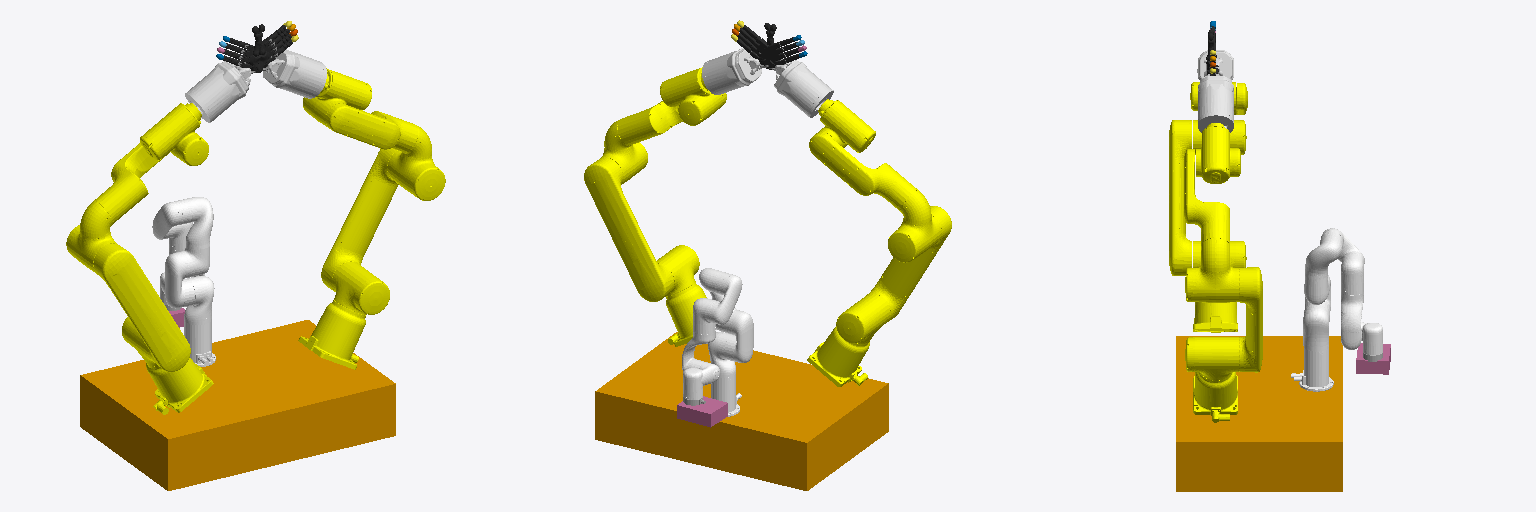
--- What the picture shows (computed from the rendered views, not written in the file) ---
The picture shows the robot from 3 angles, left to right: view 1: azimuth 30°, elevation 25°; view 2: azimuth 150°, elevation 25°; view 3: azimuth 270°, elevation 25°; orthographic projection.
Robot: avatar — 100 links, 99 joints (66 revolute, 33 fixed); root link world; default pose: all joints at 0.
Links seen in each view (by area): view 1: avatar_mount_shopstand, gofa1_link_2, gofa2_link_2, xarm6_link2, gofa2_link_4, gofa2_base, gofa1_link_5, gofa2_link_3, lh_forearm, gofa1_link_4, gofa2_link_1, gofa1_base (+7 smaller); view 2: avatar_mount_shopstand, gofa2_link_2, gofa1_link_4, gofa1_link_2, gofa1_link_3, gofa1_base, gofa2_link_5, lh_forearm, rh_forearm, gofa1_link_1, xarm6_link2, gofa2_link_4 (+10 smaller); view 3: avatar_mount_shopstand, gofa1_link_2, gofa2_link_3, gofa2_link_2, gofa2_link_1, gofa2_link_4, gofa2_link_5, xarm6_link2, gofa2_base, rh_forearm, gofa1_base, xarm6_link1 (+8 smaller).
Boxes of the visible links, <box> form: avatar_mount_shopstand: <box>80,320,395,490</box>; gofa1_link_2: <box>93,243,190,371</box>; gofa2_link_2: <box>321,148,398,291</box>; xarm6_link2: <box>165,197,213,308</box>; gofa2_link_4: <box>326,103,417,152</box>; gofa2_base: <box>298,300,365,369</box>; gofa1_link_5: <box>140,104,208,165</box>; gofa2_link_3: <box>387,125,445,200</box>; lh_forearm: <box>185,61,250,122</box>; gofa1_link_4: <box>94,143,169,222</box>; gofa2_link_1: <box>332,262,389,314</box>; gofa1_base: <box>146,358,213,414</box>; avatar_mount_shopstand: <box>595,332,888,490</box>; gofa2_link_2: <box>584,158,674,301</box>; gofa1_link_4: <box>809,132,917,210</box>; gofa1_link_2: <box>866,206,951,321</box>; gofa1_link_3: <box>888,190,941,262</box>; gofa1_base: <box>807,327,869,386</box>; gofa2_link_5: <box>660,68,722,125</box>; lh_forearm: <box>774,60,833,117</box>; rh_forearm: <box>702,48,761,94</box>; gofa1_link_1: <box>836,294,890,343</box>; xarm6_link2: <box>699,268,753,362</box>; gofa2_link_4: <box>617,93,726,144</box>; avatar_mount_shopstand: <box>1176,336,1342,491</box>; gofa1_link_2: <box>1169,120,1191,275</box>; gofa2_link_3: <box>1185,238,1238,302</box>; gofa2_link_2: <box>1239,267,1262,372</box>; gofa2_link_1: <box>1185,337,1238,380</box>; gofa2_link_4: <box>1184,149,1229,245</box>; gofa2_link_5: <box>1196,127,1240,183</box>; xarm6_link2: <box>1304,230,1343,308</box>; gofa2_base: <box>1193,372,1237,422</box>; rh_forearm: <box>1198,74,1233,132</box>; gofa1_base: <box>1193,302,1237,332</box>; xarm6_link1: <box>1303,301,1330,351</box>.
Bounding box of the posed robot: 1.41 × 0.8133 × 1.63 m (x, y, z).
67 mesh visuals loaded from 28 distinct referenced files (28 OBJ).

URDF robot description (avatar):
<?xml version="1.0" ?>
<!-- =================================================================================== -->
<!-- |    This document was autogenerated by xacro from [local-path]/avatar_ws_backup_2/install/avatar_moveit_config/share/avatar_moveit_config/config/avatar.urdf.xacro | -->
<!-- |    EDITING THIS FILE BY HAND IS NOT RECOMMENDED                                 | -->
<!-- =================================================================================== -->
<robot name="avatar" xmlns:controller="http://playerstage.sourceforge.net/gazebo/xmlschema/#controller" xmlns:interface="http://playerstage.sourceforge.net/gazebo/xmlschema/#interface" xmlns:sensor="http://playerstage.sourceforge.net/gazebo/xmlschema/#sensor">
  <!-- Avatar mounting shopstand, y forward, z up -->
  <link name="avatar_mount_shopstand">
    <visual>
      <origin rpy="0 0 0" xyz="0.4572 0.3048 -0.1"/>
      <geometry>
        <box size="0.9144 0.6096 0.2"/>
      </geometry>
    </visual>
    <collision>
      <origin rpy="0 0 0" xyz="0.4572 0.3048 -0.1"/>
      <geometry>
        <box size="0.9144 0.6096 0.2"/>
      </geometry>
    </collision>
  </link>
  <!-- World Connection -->
  <link name="world"/>
  <joint name="avatar_mount_shopstand" type="fixed">
    <parent link="world"/>
    <child link="avatar_mount_shopstand"/>
    <origin rpy="0.0 0.0 0.0" xyz="0.1 0.1 0.0"/>
  </joint>
  <!-- connect avatar mount shopstand to gofa 1 -->
  <joint name="gofa1_workspace" type="fixed">
    <parent link="avatar_mount_shopstand"/>
    <child link="gofa1_workspace"/>
    <origin rpy="0.0 0.0 0.0" xyz="0.1524 0.14605 0.0"/>
  </joint>
  <material name="Blue">
    <color rgba="0.0 0.0 0.8 1.0"/>
  </material>
  <material name="Green">
    <color rgba="0.0 0.8 0.0 1.0"/>
  </material>
  <material name="BiotacGreen">
    <color rgba="0.31 0.85 0.42 1.0"/>
  </material>
  <material name="Grey">
    <color rgba="0.2 0.2 0.2 1.0"/>
  </material>
  <material name="LightGrey">
    <color rgba="0.6 0.6 0.6 1.0"/>
  </material>
  <material name="Red">
    <color rgba="0.8 0.0 0.0 1.0"/>
  </material>
  <material name="White">
    <color rgba="1.0 1.0 1.0 1.0"/>
  </material>
  <gazebo>
    <plugin filename="libgazebo_ros_control.so" name="gazebo_ros_control">
      <robotSimType>sr_gazebo_sim/SrGazeboHWSim</robotSimType>
    </plugin>
  </gazebo>
  <!-- Conversion were obtained from http://www.e-paint.co.uk/Lab_values.asp
       unless otherwise stated. -->
  <!-- link list -->
  <link name="gofa1_base">
    <!-- See note 1 in package.xml about the inertial and mass values -->
    <inertial>
      <mass value="3.50083457958494"/>
      <origin xyz="-0.0012013793465437 -0.000175191786981708 0.0862146007385352"/>
      <inertia ixx="0.0153015257917955" ixy="-6.40155032892694E-05" ixz="-0.000276708687772683" iyy="0.0159333503953857" iyz="-3.98029144780725E-05" izz="0.0112162302268266"/>
    </inertial>
    <collision name="collision">
      <geometry>
        <mesh filename="gofa_arm/meshes/collision/base_from_STL.obj"/>
      </geometry>
    </collision>
    <visual name="visual">
      <geometry>
        <mesh filename="gofa_arm/meshes/visual/base_from_STL.obj"/>
      </geometry>
      <material name="">
        <color rgba="1 1 0 1"/>
      </material>
    </visual>
  </link>
  <link name="gofa1_link_1">
    <!-- See note 1 in package.xml about the inertial and mass values -->
    <inertial>
      <mass value="2.76743491139404"/>
      <origin xyz="2.08682453325091E-06 0.0103608399967513 0.0705307203199506"/>
      <inertia ixx="0.0115158625894577" ixy="6.37197693598838E-08" ixz="5.98954393680154E-09" iyy="0.006494848329231" iyz="-0.000196668400316843" izz="0.0109446835358581"/>
    </inertial>
    <collision name="collision">
      <geometry>
        <mesh filename="gofa_arm/meshes/collision/link_1_from_STL.obj"/>
      </geometry>
    </collision>
    <visual name="visual">
      <geometry>
        <mesh filename="gofa_arm/meshes/visual/link_1_from_STL.obj"/>
      </geometry>
      <material name="">
        <color rgba="1 1 0 1"/>
      </material>
    </visual>
  </link>
  <link name="gofa1_link_2">
    <!-- See note 1 in package.xml about the inertial and mass values -->
    <inertial>
      <mass value="4.2890416"/>
      <origin xyz="1.34018352211628E-06 -0.0500118376116071 0.222001399322246"/>
      <inertia ixx="0.130524729873898" ixy="1.31811857134115E-07" ixz="1.99022457670482E-06" iyy="0.133278449324229" iyz="-4.48622200366709E-07" izz="0.00669457974697178"/>
    </inertial>
    <collision name="collision">
      <geometry>
        <mesh filename="gofa_arm/meshes/collision/link_2_from_STL.obj"/>
      </geometry>
    </collision>
    <visual name="visual">
      <geometry>
        <mesh filename="gofa_arm/meshes/visual/link_2_from_STL.obj"/>
      </geometry>
      <material name="">
        <color rgba="1 1 0 1"/>
      </material>
    </visual>
  </link>
  <link name="gofa1_link_3">
    <!-- See note 1 in package.xml about the inertial and mass values -->
    <inertial>
      <mass value="3.38333107992875"/>
      <origin xyz="0.0128129281453599 0.0944171780907046 0.0247427540642403"/>
      <inertia ixx="0.0175626138728642" ixy="0.000364866179108744" ixz="-0.00318670290285352" iyy="0.0140230068919562" iyz="0.000704668055158407" izz="0.013275205067567"/>
    </inertial>
    <collision name="collision">
      <geometry>
        <mesh filename="gofa_arm/meshes/collision/link_3_from_STL.obj"/>
      </geometry>
    </collision>
    <visual name="visual">
      <geometry>
        <mesh filename="gofa_arm/meshes/visual/link_3_from_STL.obj"/>
      </geometry>
      <material name="">
        <color rgba="1 1 0 1"/>
      </material>
    </visual>
  </link>
  <link name="gofa1_link_4">
    <!-- See note 1 in package.xml about the inertial and mass values -->
    <inertial>
      <mass value="2.77857535641324"/>
      <origin xyz="0.160558561602322 0.041976811408979 -2.36623354021859E-07"/>
      <inertia ixx="0.00881683095901354" ixy="-0.010746260580237" ixz="1.2899930119841E-07" iyy="0.0340754175571832" iyz="3.96362791626429E-08" izz="0.0389358932156922"/>
    </inertial>
    <collision name="collision">
      <geometry>
        <mesh filename="gofa_arm/meshes/collision/link_4_from_STL.obj"/>
      </geometry>
    </collision>
    <visual name="visual">
      <geometry>
        <mesh filename="gofa_arm/meshes/visual/link_4_from_STL.obj"/>
      </geometry>
      <material name="">
        <color rgba="1 1 0 1"/>
      </material>
    </visual>
  </link>
  <link name="gofa1_link_5">
    <!-- See note 1 in package.xml about the inertial and mass values -->
    <inertial>
      <mass value="3.01105814739001"/>
      <origin xyz="-0.0147152361879962 -0.0785646469392633 0.0427558021601431"/>
      <inertia ixx="0.0114597336686444" ixy="0.000180094704361231" ixz="0.00165207280226761" iyy="0.013561904467501" iyz="-0.000525272443978826" izz="0.0108480119549914"/>
    </inertial>
    <collision name="collision">
      <geometry>
        <mesh filename="gofa_arm/meshes/collision/link_5_from_STL.obj"/>
      </geometry>
    </collision>
    <visual name="visual">
      <geometry>
        <mesh filename="gofa_arm/meshes/visual/link_5_from_STL.obj"/>
      </geometry>
      <material name="">
        <color rgba="1 1 0 1"/>
      </material>
    </visual>
  </link>
  <link name="gofa1_link_6">
    <!-- See note 1 in package.xml about the inertial and mass values -->
    <inertial>
      <mass value="0.146500988015653"/>
      <origin rpy="0 0 0" xyz="0.0137506852604966 0.000239804131398652 -0.000341962798940165"/>
      <inertia ixx="0.000128977630055306" ixy="-8.7622752508613E-08" ixz="1.18851551870012E-07" iyy="7.61118177829087E-05" iyz="-6.49821554399679E-07" izz="7.65022909768016E-05"/>
    </inertial>
    <!-- Meshlab calculated values (below) make gazebo crash when rotating this joint. -->
    <!-- <inertial>
        <mass value="0.00686711"/>
        <origin xyz="-0.00250976 -1.89e-06 0.00010218"/>
        <inertia ixx="1.3517e-06" ixy="-1.21316e-11" ixz="9.18065e-12" iyy="6.89813e-07" iyz="-1.21534e-10" izz="6.90097e-07"/>
      </inertial> -->
    <collision name="collision">
      <geometry>
        <mesh filename="gofa_arm/meshes/collision/link_6_from_STL.obj"/>
      </geometry>
    </collision>
    <visual name="visual">
      <geometry>
        <mesh filename="gofa_arm/meshes/visual/link_6_from_STL.obj"/>
      </geometry>
      <material name="">
        <color rgba="1 1 0 1"/>
      </material>
    </visual>
  </link>
  <!-- end of link list -->
  <!-- joint list -->
  <joint name="gofa1_joint_1" type="revolute">
    <origin rpy="0 0 0" xyz="0 0 0.1875"/>
    <axis xyz="0 0 1"/>
    <parent link="gofa1_base"/>
    <child link="gofa1_link_1"/>
    <!-- See note 2 in package.xml about effort limits and dynamics values -->
    <limit effort="1000" lower="-2.967" upper="2.967" velocity="5.027"/>
    <dynamics damping="50.0" friction="1.0"/>
  </joint>
  <joint name="gofa1_joint_2" type="revolute">
    <origin rpy="0 0 0" xyz="0 -0.085 0.0775"/>
    <axis xyz="0 1 0"/>
    <parent link="gofa1_link_1"/>
    <child link="gofa1_link_2"/>
    <!-- See note 2 in package.xml about effort limits and dynamics values -->
    <limit effort="1000" lower="-1.745" upper="2.269" velocity="4.189"/>
    <dynamics damping="50.0" friction="1.0"/>
  </joint>
  <joint name="gofa1_joint_3" type="revolute">
    <origin rpy="0 0 0" xyz="0 -0.00100000000000007 0.444"/>
    <axis xyz="0 1 0"/>
    <parent link="gofa1_link_2"/>
    <child link="gofa1_link_3"/>
    <!-- See note 2 in package.xml about effort limits and dynamics values -->
    <limit effort="1000" lower="-3.491" upper="1.222" velocity="5.236"/>
    <dynamics damping="10.0" friction="1.0"/>
  </joint>
  <joint name="gofa1_joint_4" type="revolute">
    <origin rpy="0 0 0" xyz="0.096 0.0860000000000001 0.11"/>
    <axis xyz="1 0 0"/>
    <parent link="gofa1_link_3"/>
    <child link="gofa1_link_4"/>
    <!-- See note 2 in package.xml about effort limits and dynamics values -->
    <limit effort="1000" lower="-4.712" upper="4.712" velocity="6.981"/>
    <dynamics damping="5.0" friction="1.0"/>
  </joint>
  <joint name="gofa1_joint_5" type="revolute">
    <origin rpy="0 0 0" xyz="0.374 0.0744999999999998 0"/>
    <axis xyz="0 1 0"/>
    <parent link="gofa1_link_4"/>
    <child link="gofa1_link_5"/>
    <!-- See note 2 in package.xml about effort limits and dynamics values -->
    <limit effort="1000" lower="-2.269" upper="2.269" velocity="7.069"/>
    <dynamics damping="2.0" friction="1.0"/>
  </joint>
  <joint name="gofa1_joint_6" type="revolute">
    <origin rpy="0 0 0" xyz="0.0679999999999995 -0.0744999999999998 0.0800000000000003"/>
    <axis xyz="1 0 0"/>
    <parent link="gofa1_link_5"/>
    <child link="gofa1_link_6"/>
    <!-- See note 2 in package.xml about effort limits and dynamics values -->
    <limit effort="1000" lower="-6.283" upper="6.283" velocity="10.472"/>
    <dynamics damping="1.0" friction="1.0"/>
  </joint>
  <!-- end of joint list -->
  <!-- gofa transmission list -->
  <!--added by LiWen on Apr 16 2025 -->
  <transmission name="gofa1_joint_1_transmission">
    <type>sr_mechanism_model/SimpleTransmission</type>
    <actuator name="gofa1_J1">
      <mechanicalReduction>1</mechanicalReduction>
    </actuator>
    <joint name="gofa1_joint_1">
      <hardwareInterface>EffortJointInterface</hardwareInterface>
      <hardwareInterface>PositionJointInterface</hardwareInterface>
    </joint>
  </transmission>
  <transmission name="gofa1_joint_2_transmission">
    <type>sr_mechanism_model/SimpleTransmission</type>
    <actuator name="gofa1_J2">
      <mechanicalReduction>1</mechanicalReduction>
    </actuator>
    <joint name="gofa1_joint_2">
      <hardwareInterface>EffortJointInterface</hardwareInterface>
      <hardwareInterface>PositionJointInterface</hardwareInterface>
    </joint>
  </transmission>
  <transmission name="gofa1_joint_3_transmission">
    <type>sr_mechanism_model/SimpleTransmission</type>
    <actuator name="gofa1_J3">
      <mechanicalReduction>1</mechanicalReduction>
    </actuator>
    <joint name="gofa1_joint_3">
      <hardwareInterface>EffortJointInterface</hardwareInterface>
      <hardwareInterface>PositionJointInterface</hardwareInterface>
    </joint>
  </transmission>
  <transmission name="gofa1_joint_4_transmission">
    <type>sr_mechanism_model/SimpleTransmission</type>
    <actuator name="gofa1_J4">
      <mechanicalReduction>1</mechanicalReduction>
    </actuator>
    <joint name="gofa1_joint_4">
      <hardwareInterface>EffortJointInterface</hardwareInterface>
      <hardwareInterface>PositionJointInterface</hardwareInterface>
    </joint>
  </transmission>
  <transmission name="gofa1_joint_5_transmission">
    <type>sr_mechanism_model/SimpleTransmission</type>
    <actuator name="gofa1_J5">
      <mechanicalReduction>1</mechanicalReduction>
    </actuator>
    <joint name="gofa1_joint_5">
      <hardwareInterface>EffortJointInterface</hardwareInterface>
      <hardwareInterface>PositionJointInterface</hardwareInterface>
    </joint>
  </transmission>
  <transmission name="gofa1_joint_6_transmission">
    <type>sr_mechanism_model/SimpleTransmission</type>
    <actuator name="gofa1_J6">
      <mechanicalReduction>1</mechanicalReduction>
    </actuator>
    <joint name="gofa1_joint_6">
      <hardwareInterface>EffortJointInterface</hardwareInterface>
      <hardwareInterface>PositionJointInterface</hardwareInterface>
    </joint>
  </transmission>
  <!-- end of gofa transmission list -->
  <!-- ROS-Industrial 'base' frame- base_link to ABB World Coordinates transform -->
  <link name="gofa1_base_link"/>
  <joint name="gofa1_base_link-base" type="fixed">
    <origin rpy="0 0 0" xyz="0 0 0"/>
    <parent link="gofa1_base_link"/>
    <child link="gofa1_base"/>
  </joint>
  <!-- ROS-Industrial 'tool0' frame- all-zeros tool frame -->
  <link name="gofa1_tool0"/>
  <joint name="gofa1_link_6-tool0" type="fixed">
    <origin rpy="0 1.5708 0" xyz="0.0326 0 0"/>
    <parent link="gofa1_link_6"/>
    <child link="gofa1_tool0"/>
  </joint>
  <joint name="lh_world_joint" type="fixed">
    <parent link="gofa1_tool0"/>
    <child link="lh_forearm"/>
    <origin rpy="0.0 0.0 0.0" xyz="0.0 0.0 0.007"/>
  </joint>
  <link name="lh_forearm">
    <inertial>
      <origin rpy="0 0 0" xyz="0 0 0.09"/>
      <mass value="3.0"/>
      <inertia ixx="0.0138" ixy="0.0" ixz="0.0" iyy="0.0138" iyz="0.0" izz="0.00744"/>
    </inertial>
    <visual>
      <origin rpy="0 0 0" xyz="0 0 0.0"/>
      <geometry name="lh_forearm_visual">
        <mesh filename="shadow_hand/meshes/forearm/forearm_E3M5_from_dae.obj" scale="0.001 0.001 0.001"/>
      </geometry>
      <material name="light_grey">
        <color rgba="0.90000 0.90000 0.90000 1.0"/>
      </material>
    </visual>
    <collision>
      <origin rpy="0 0 0" xyz="0 0 0.0"/>
      <geometry name="lh_forearm_collision">
        <mesh filename="shadow_hand/meshes/forearm/forearm_collision_E3M5_from_dae.obj" scale="0.001 0.001 0.001"/>
      </geometry>
    </collision>
    <!-- wrist mount -->
    <collision>
      <origin rpy="0 0.78 0" xyz="0 -0.01 0.181"/>
      <geometry>
        <box size="0.07 0.07 0.07"/>
      </geometry>
    </collision>
    <!-- TODO: Make a decision on whether to add the connector or not -->
    <!--visual>
        <origin rpy="0 -1.57 -1.57" xyz="0.0 0.067 0.0045"/>
        <geometry name="${prefix}cable_extr_visualisation">
          <mesh filename="file://$(find sr_description)/meshes/components/cable_connector/cable_connector_base_${hand_version}.dae" scale="0.001 0.001 0.001" />
        </geometry>
      </visual-->
  </link>
  <gazebo reference="lh_forearm">
    <selfCollide>false</selfCollide>
  </gazebo>
  <link name="lh_wrist">
    <inertial>
      <origin rpy="0 0 0" xyz="0 0 0.029"/>
      <mass value="0.1"/>
      <inertia ixx="0.000035" ixy="0.0" ixz="0.0" iyy="0.000064" iyz="0.0" izz="0.0000438"/>
    </inertial>
    <visual>
      <origin rpy="0 0 0" xyz="0 0 0"/>
      <geometry name="lh_wrist_visual">
        <mesh filename="shadow_hand/meshes/wrist/wrist_E3M5_from_dae_scaled_n0.001_0.001_0.001.obj" scale="1 1 1"/>
      </geometry>
      <material name="LightGrey"/>
    </visual>
    <collision>
      <origin rpy="1.5708 1.5708 0" xyz="0 0 0"/>
      <geometry name="lh_wrist_collision_geom">
        <cylinder length="0.030" radius="0.0135"/>
      </geometry>
    </collision>
    <collision>
      <origin rpy="0 1.5708 0" xyz="0.026 0 0.034"/>
      <geometry>
        <cylinder length="0.010" radius="0.011"/>
      </geometry>
    </collision>
    <collision>
      <origin rpy="0 1.5708 0" xyz="-0.031 0 0.034"/>
      <geometry>
        <cylinder length="0.010" radius="0.011"/>
      </geometry>
    </collision>
    <collision>
      <origin rpy="0 -0.7854 0" xyz="0.021 0 0.011"/>
      <geometry>
        <box size="0.027 0.018 0.010"/>
      </geometry>
    </collision>
    <collision>
      <origin rpy="0 0.7854 0" xyz="-0.026 0 0.010"/>
      <geometry>
        <box size="0.027 0.018 0.010"/>
      </geometry>
    </collision>
  </link>
  <gazebo reference="lh_wrist">
    <material>Gazebo/White</material>
    <selfCollide>false</selfCollide>
  </gazebo>
  <joint name="lh_WRJ2" type="revolute">
    <parent link="lh_forearm"/>
    <child link="lh_wrist"/>
    <origin rpy="0 0 0" xyz="0 -0.010 0.21301"/>
    <axis xyz="0 -1 0"/>
    <limit effort="10" lower="-0.5235987755982988" upper="0.17453292519943295" velocity="2.0"/>
    <dynamics damping="0.1"/>
  </joint>
  <gazebo reference="lh_WRJ2">
    <provideFeedback>1</provideFeedback>
    <implicitSpringDamper>1</implicitSpringDamper>
  </gazebo>
  <transmission name="lh_wrist_transmission">
    <type>sr_mechanism_model/SimpleTransmission</type>
    <actuator name="lh_WRJ2">
      <mechanicalReduction>1</mechanicalReduction>
    </actuator>
    <joint name="lh_WRJ2">
      <hardwareInterface>EffortJointInterface</hardwareInterface>
      <hardwareInterface>PositionJointInterface</hardwareInterface>
    </joint>
  </transmission>
  <link name="lh_palm">
    <inertial>
      <origin rpy="0 0 0" xyz="0 0 0.035"/>
      <mass value="0.3"/>
      <inertia ixx="0.0003581" ixy="0.0" ixz="0.0" iyy="0.0005287" iyz="0.0" izz="0.000191"/>
    </inertial>
    <visual>
      <origin rpy="0 0 0" xyz="0 0 0"/>
      <geometry name="lh_palm_visual">
        <mesh filename="shadow_hand/meshes/palm/palm_E3M5_from_dae_scaled_n0.001_0.001_0.001.obj" scale="1 1 1"/>
      </geometry>
      <material name="Grey"/>
    </visual>
    <collision>
      <origin rpy="0 0 0" xyz="-0.011 0.0085 0.038"/>
      <geometry name="lh_palm_collision_geom">
        <box size="0.062 0.007 0.098"/>
      </geometry>
    </collision>
    <collision>
      <origin rpy="0 0 0" xyz="0.002 -0.0035 0.038"/>
      <geometry>
        <box size="0.036 0.017 0.098"/>
      </geometry>
    </collision>
    <!-- palm complement below first finger -->
    <collision>
      <origin rpy="0 0 0" xyz="-0.029 -0.0035 0.082"/>
      <geometry>
        <box size="0.026 0.017 0.010"/>
      </geometry>
    </collision>
    <collision>
      <origin rpy="0.2 0 -0.25" xyz="-0.0265 -0.001 0.070"/>
      <geometry>
        <box size="0.026 0.014 0.018"/>
      </geometry>
    </collision>
    <!-- thumb pulp side -->
    <collision>
      <origin rpy="0 0 0" xyz="-0.0315 -0.0085 0.001"/>
      <geometry>
        <box size="0.021 0.027 0.024"/>
      </geometry>
    </collision>
    <!-- thumb pulp central -->
    <collision>
      <origin rpy="0 0 0.48" xyz="-0.0125 -0.015 0.009"/>
      <geometry>
        <box size="0.022 0.005 0.040"/>
      </geometry>
    </collision>
    <!-- above middle finger-->
    <collision>
      <origin rpy="0 0 0" xyz="-0.011 0 0.089"/>
      <geometry>
        <box size="0.018 0.024 0.004"/>
      </geometry>
    </collision>
    <!-- metacarpal side-->
    <collision>
      <origin rpy="0 0 0" xyz="0.03 0 0.009"/>
      <geometry>
        <box size="0.020 0.024 0.040"/>
      </geometry>
    </collision>
  </link>
  <joint name="lh_ee_fixed_joint" type="fixed">
    <parent link="lh_palm"/>
    <child link="lh_manipulator"/>
    <origin rpy="0.0 0.0 0.0" xyz="0.0 0.0 0.05"/>
  </joint>
  <link name="lh_manipulator"/>
  <joint name="lh_WRJ1" type="revolute">
    <parent link="lh_wrist"/>
    <child link="lh_palm"/>
    <origin rpy="0 0 0" xyz="0 0 0.034"/>
    <axis xyz="1 0 0"/>
    <limit effort="30" lower="-0.6981317007977318" upper="0.4886921905584123" velocity="2.0"/>
    <dynamics damping="0.1"/>
  </joint>
  <gazebo reference="lh_WRJ1">
    <provideFeedback>1</provideFeedback>
    <implicitSpringDamper>1</implicitSpringDamper>
  </gazebo>
  <link name="lh_imu"/>
  <joint name="lh_palm_to_imu" type="fixed">
    <parent link="lh_palm"/>
    <child link="lh_imu"/>
    <origin rpy="-1.5707963 3.141592 0.0" xyz="0.01785 0.00765 0.049125"/>
  </joint>
  <transmission name="lh_palm_transmission">
    <type>sr_mechanism_model/SimpleTransmission</type>
    <actuator name="lh_WRJ1">
      <mechanicalReduction>1</mechanicalReduction>
    </actuator>
    <joint name="lh_WRJ1">
      <hardwareInterface>EffortJointInterface</hardwareInterface>
      <hardwareInterface>PositionJointInterface</hardwareInterface>
    </joint>
  </transmission>
  <gazebo reference="lh_palm">
  </gazebo>
  <link name="lh_ffknuckle">
    <inertial>
      <origin rpy="0 0 0" xyz="0 0 0"/>
      <mass value="0.008"/>
      <inertia ixx="0.00000026" ixy="0.0" ixz="0.0" iyy="0.00000026" iyz="0.0" izz="0.00000032"/>
    </inertial>
    <visual>
      <origin rpy="0 0 0" xyz="0 0 0.0005"/>
      <geometry name="lh_ffknuckle_visual">
        <mesh filename="shadow_hand/meshes/f_knuckle/f_knuckle_E3M5_from_dae.obj" scale="0.001 0.001 0.001"/>
      </geometry>
      <material name="LightGrey"/>
    </visual>
    <collision>
      <origin rpy="0 1.5708 0" xyz="0 0 0"/>
      <geometry name="lh_ffknuckle_collision_geom">
        <cylinder length="0.014" radius="0.007"/>
      </geometry>
    </collision>
  </link>
  <joint name="lh_FFJ4" type="revolute">
    <parent link="lh_palm"/>
    <child link="lh_ffknuckle"/>
    <!--<origin xyz="0.033 0 0.095" rpy="0 0 0" />-->
    <origin rpy="0 0 0" xyz="-0.033 0 0.095"/>
    <axis xyz="0 1 0"/>
    <limit effort="2" lower="-0.3490658503988659" upper="0.3490658503988659" velocity="2.0"/>
    <dynamics damping="0.1"/>
  </joint>
  <gazebo reference="lh_FFJ4">
    <provideFeedback>1</provideFeedback>
    <implicitSpringDamper>1</implicitSpringDamper>
  </gazebo>
  <transmission name="lh_ffknuckle_transmission">
    <type>sr_mechanism_model/SimpleTransmission</type>
    <actuator name="lh_FFJ4">
      <mechanicalReduction>1</mechanicalReduction>
    </actuator>
    <joint name="lh_FFJ4">
      <hardwareInterface>EffortJointInterface</hardwareInterface>
      <hardwareInterface>PositionJointInterface</hardwareInterface>
    </joint>
  </transmission>
  <gazebo reference="lh_ffknuckle">
    <!-- knuckle is not highly exposed, so bumper is not useful -->
    <material>Gazebo/Grey</material>
  </gazebo>
  <link name="lh_ffproximal">
    <inertial>
      <mass value="0.030"/>
      <origin xyz="0 0 0.0225"/>
      <inertia ixx="0.0000098" ixy="0.0" ixz="0.0" iyy="0.00001" iyz="0.0" izz="0.0000018"/>
    </inertial>
    <visual>
      <origin rpy="0 0 0" xyz="0 0 0"/>
      <geometry name="lh_ffproximal_visual">
        <mesh filename="shadow_hand/meshes/f_proximal/f_proximal_E3M5_from_dae.obj" scale="0.001 0.001 0.001"/>
      </geometry>
      <material name="Grey"/>
    </visual>
    <collision>
      <origin rpy="0 0 0" xyz="0 0 0.025"/>
      <geometry name="lh_ffproximal_collision_geom">
        <cylinder length="0.040" radius="0.007"/>
      </geometry>
    </collision>
  </link>
  <joint name="lh_FFJ3" type="revolute">
    <parent link="lh_ffknuckle"/>
    <child link="lh_ffproximal"/>
    <origin rpy="0 0 0" xyz="0 0 0"/>
    <axis xyz="1 0 0"/>
    <limit effort="2" lower="-0.2617993877991494" upper="1.5707963267948966" velocity="2.0"/>
    <dynamics damping="0.1"/>
  </joint>
  <gazebo reference="lh_FFJ3">
    <provideFeedback>1</provideFeedback>
    <implicitSpringDamper>1</implicitSpringDamper>
  </gazebo>
  <transmission name="lh_ffproximal_transmission">
    <type>sr_mechanism_model/SimpleTransmission</type>
    <actuator name="lh_FFJ3">
      <mechanicalReduction>1</mechanicalReduction>
    </actuator>
    <joint name="lh_FFJ3">
      <hardwareInterface>EffortJointInterface</hardwareInterface>
      <hardwareInterface>PositionJointInterface</hardwareInterface>
    </joint>
  </transmission>
  <gazebo reference="lh_ffproximal">
    <selfCollide>true</selfCollide>
  </gazebo>
  <link name="lh_ffmiddle">
    <inertial>
      <origin rpy="0 0 0" xyz="0 0 0.0125"/>
      <mass value="0.017"/>
      <inertia ixx="0.0000026" ixy="0.0" ixz="0.0" iyy="0.0000027" iyz="0.0" izz="0.00000087"/>
    </inertial>
    <visual>
      <origin rpy="0 0 0" xyz="0 0 0"/>
      <geometry name="lh_ffmiddle_visual">
        <mesh filename="shadow_hand/meshes/f_middle/f_middle_E3M5_from_dae.obj" scale="0.001 0.001 0.001"/>
      </geometry>
      <material name="Grey"/>
    </visual>
    <collision>
      <origin rpy="0 0 0" xyz="0 0 0.0125"/>
      <geometry name="lh_ffmiddle_collision_geom">
        <cylinder length="0.025" radius="0.007"/>
      </geometry>
    </collision>
    <collision>
      <origin rpy="0 0 0" xyz="0 0 0.0"/>
      <geometry>
        <sphere radius="0.007"/>
      </geometry>
    </collision>
    <collision>
      <origin rpy="0 0 0" xyz="0 0 0.025"/>
      <geometry>
        <sphere radius="0.007"/>
      </geometry>
    </collision>
  </link>
  <joint name="lh_FFJ2" type="revolute">
    <parent link="lh_ffproximal"/>
    <child link="lh_ffmiddle"/>
    <origin rpy="0 0 0" xyz="0 0 0.045"/>
    <axis xyz="1 0 0"/>
    <limit effort="2" lower="0" upper="1.5707963267948966" velocity="2.0"/>
    <dynamics damping="0.1"/>
  </joint>
  <gazebo reference="lh_FFJ2">
    <provideFeedback>1</provideFeedback>
    <implicitSpringDamper>1</implicitSpringDamper>
  </gazebo>
  <transmission name="lh_ffmiddle_transmission">
    <type>sr_mechanism_model/SimpleTransmission</type>
    <actuator name="lh_FFJ2">
      <mechanicalReduction>1</mechanicalReduction>
    </actuator>
    <joint name="lh_FFJ2">
      <hardwareInterface>EffortJointInterface</hardwareInterface>
      <hardwareInterface>PositionJointInterface</hardwareInterface>
    </joint>
  </transmission>
  <gazebo reference="lh_ffmiddle">
    <selfCollide>true</selfCollide>
  </gazebo>
  <link name="lh_ffdistal">
    <inertial>
      <mass value="0.012"/>
      <origin xyz="0 0 0.012"/>
      <inertia ixx="0.00000094" ixy="0.0" ixz="0.0" iyy="0.0000011" iyz="0.0" izz="0.00000053"/>
    </inertial>
    <visual>
      <origin rpy="0 0 0" xyz="0 0 0"/>
      <geometry name="lh_ffdistal_visual">
        <mesh filename="shadow_hand/meshes/f_distal/bt_sp/f_distal_bt_sp_from_dae.obj" scale="0.001 0.001 0.001"/>
      </geometry>
    </visual>
    <collision>
      <origin rpy="0 0 0" xyz="0 0 0"/>
      <geometry name="lh_ffdistal_collision_geom">
        <mesh filename="shadow_hand/meshes/f_distal/bt_sp/f_distal_bt_sp_from_dae.obj" scale="0.001 0.001 0.001"/>
      </geometry>
    </collision>
  </link>
  <joint name="lh_FFJ1" type="revolute">
    <parent link="lh_ffmiddle"/>
    <child link="lh_ffdistal"/>
    <origin rpy="0 0 0" xyz="0 0 0.025"/>
    <axis xyz="1 0 0"/>
    <!-- standard distal joint -->
    <limit effort="2" lower="0" upper="1.5707963267948966" velocity="2.0"/>
    <dynamics damping="0.1"/>
  </joint>
  <gazebo reference="lh_FFJ1">
    <provideFeedback>1</provideFeedback>
    <implicitSpringDamper>1</implicitSpringDamper>
  </gazebo>
  <link name="lh_fftip">
    <inertial>
      <mass value="0.001"/>
      <inertia ixx="0.0" ixy="0.0" ixz="0.0" iyy="0.0" iyz="0.0" izz="0.0"/>
    </inertial>
  </link>
  <joint name="lh_FFtip" type="fixed">
    <parent link="lh_ffdistal"/>
    <child link="lh_fftip"/>
    <origin rpy="0 0 0" xyz="0 0 0.026"/>
  </joint>
  <gazebo reference="lh_ffdistal">
    <sensor name="lh_ffdistal_contact" type="contact">
      <always_on>1</always_on>
      <update_rate>1000.0</update_rate>
      <contact>
        <collision>lh_ffdistal_collision</collision>
        <topic>lh_ffdistal_collision</topic>
      </contact>
      <plugin filename="libgazebo_ros_bumper.so" name="lh_ffdistal_gazebo_ros_bumper_controller">
        <alwaysOn>true</alwaysOn>
        <frameName>lh_ffdistal</frameName>
        <updateRate>100.0</updateRate>
        <bumperTopicName>contacts/lh_ff/distal</bumperTopicName>
      </plugin>
    </sensor>
    <mu1 value="500.0"/>
    <mu2 value="500.0"/>
    <kp value="10000000.0"/>
    <kd value="1.0"/>
    <selfCollide>true</selfCollide>
  </gazebo>
  <transmission name="lh_ffdistal_transmission">
    <type>sr_mechanism_model/SimpleTransmission</type>
    <actuator name="lh_FFJ1">
      <mechanicalReduction>1</mechanicalReduction>
    </actuator>
    <joint name="lh_FFJ1">
      <hardwareInterface>EffortJointInterface</hardwareInterface>
      <hardwareInterface>PositionJointInterface</hardwareInterface>
    </joint>
  </transmission>
  <!--added by LiWen on Apr 17 2025 -->
  <link name="lh_mfknuckle">
    <inertial>
      <origin rpy="0 0 0" xyz="0 0 0"/>
      <mass value="0.008"/>
      <inertia ixx="0.00000026" ixy="0.0" ixz="0.0" iyy="0.00000026" iyz="0.0" izz="0.00000032"/>
    </inertial>
    <visual>
      <origin rpy="0 0 0" xyz="0 0 0.0005"/>
      <geometry name="lh_mfknuckle_visual">
        <mesh filename="shadow_hand/meshes/f_knuckle/f_knuckle_E3M5_from_dae.obj" scale="0.001 0.001 0.001"/>
      </geometry>
      <material name="LightGrey"/>
    </visual>
    <collision>
      <origin rpy="0 1.5708 0" xyz="0 0 0"/>
      <geometry name="lh_mfknuckle_collision_geom">
        <cylinder length="0.014" radius="0.007"/>
      </geometry>
    </collision>
  </link>
  <joint name="lh_MFJ4" type="revolute">
    <parent link="lh_palm"/>
    <child link="lh_mfknuckle"/>
    <!--<origin xyz="0.033 0 0.095" rpy="0 0 0" />-->
    <origin rpy="0 0 0" xyz="-0.011 0 0.099"/>
    <axis xyz="0 1 0"/>
    <limit effort="2" lower="-0.3490658503988659" upper="0.3490658503988659" velocity="2.0"/>
    <dynamics damping="0.1"/>
  </joint>
  <gazebo reference="lh_MFJ4">
    <provideFeedback>1</provideFeedback>
    <implicitSpringDamper>1</implicitSpringDamper>
  </gazebo>
  <transmission name="lh_mfknuckle_transmission">
    <type>sr_mechanism_model/SimpleTransmission</type>
    <actuator name="lh_MFJ4">
      <mechanicalReduction>1</mechanicalReduction>
    </actuator>
    <joint name="lh_MFJ4">
      <hardwareInterface>EffortJointInterface</hardwareInterface>
      <hardwareInterface>PositionJointInterface</hardwareInterface>
    </joint>
  </transmission>
  <gazebo reference="lh_mfknuckle">
    <!-- knuckle is not highly exposed, so bumper is not useful -->
    <material>Gazebo/Grey</material>
  </gazebo>
  <link name="lh_mfproximal">
    <inertial>
      <mass value="0.030"/>
      <origin xyz="0 0 0.0225"/>
      <inertia ixx="0.0000098" ixy="0.0" ixz="0.0" iyy="0.00001" iyz="0.0" izz="0.0000018"/>
    </inertial>
    <visual>
      <origin rpy="0 0 0" xyz="0 0 0"/>
      <geometry name="lh_mfproximal_visual">
        <mesh filename="shadow_hand/meshes/f_proximal/f_proximal_E3M5_from_dae.obj" scale="0.001 0.001 0.001"/>
      </geometry>
      <material name="Grey"/>
    </visual>
    <collision>
      <origin rpy="0 0 0" xyz="0 0 0.025"/>
      <geometry name="lh_mfproximal_collision_geom">
        <cylinder length="0.040" radius="0.007"/>
      </geometry>
    </collision>
  </link>
  <joint name="lh_MFJ3" type="revolute">
    <parent link="lh_mfknuckle"/>
    <child link="lh_mfproximal"/>
    <origin rpy="0 0 0" xyz="0 0 0"/>
    <axis xyz="1 0 0"/>
    <limit effort="2" lower="-0.2617993877991494" upper="1.5707963267948966" velocity="2.0"/>
    <dynamics damping="0.1"/>
  </joint>
  <gazebo reference="lh_MFJ3">
    <provideFeedback>1</provideFeedback>
    <implicitSpringDamper>1</implicitSpringDamper>
  </gazebo>
  <transmission name="lh_mfproximal_transmission">
    <type>sr_mechanism_model/SimpleTransmission</type>
    <actuator name="lh_MFJ3">
      <mechanicalReduction>1</mechanicalReduction>
    </actuator>
    <joint name="lh_MFJ3">
      <hardwareInterface>EffortJointInterface</hardwareInterface>
      <hardwareInterface>PositionJointInterface</hardwareInterface>
    </joint>
  </transmission>
  <gazebo reference="lh_mfproximal">
    <selfCollide>true</selfCollide>
  </gazebo>
  <link name="lh_mfmiddle">
    <inertial>
      <origin rpy="0 0 0" xyz="0 0 0.0125"/>
      <mass value="0.017"/>
      <inertia ixx="0.0000026" ixy="0.0" ixz="0.0" iyy="0.0000027" iyz="0.0" izz="0.00000087"/>
    </inertial>
    <visual>
      <origin rpy="0 0 0" xyz="0 0 0"/>
      <geometry name="lh_mfmiddle_visual">
        <mesh filename="shadow_hand/meshes/f_middle/f_middle_E3M5_from_dae.obj" scale="0.001 0.001 0.001"/>
      </geometry>
      <material name="Grey"/>
    </visual>
    <collision>
      <origin rpy="0 0 0" xyz="0 0 0.0125"/>
      <geometry name="lh_mfmiddle_collision_geom">
        <cylinder length="0.025" radius="0.007"/>
      </geometry>
    </collision>
    <collision>
      <origin rpy="0 0 0" xyz="0 0 0.0"/>
      <geometry>
        <sphere radius="0.007"/>
      </geometry>
    </collision>
    <collision>
      <origin rpy="0 0 0" xyz="0 0 0.025"/>
      <geometry>
        <sphere radius="0.007"/>
      </geometry>
    </collision>
  </link>
  <joint name="lh_MFJ2" type="revolute">
    <parent link="lh_mfproximal"/>
    <child link="lh_mfmiddle"/>
    <origin rpy="0 0 0" xyz="0 0 0.045"/>
    <axis xyz="1 0 0"/>
    <limit effort="2" lower="0" upper="1.5707963267948966" velocity="2.0"/>
    <dynamics damping="0.1"/>
  </joint>
  <gazebo reference="lh_MFJ2">
    <provideFeedback>1</provideFeedback>
    <implicitSpringDamper>1</implicitSpringDamper>
  </gazebo>
  <transmission name="lh_mfmiddle_transmission">
    <type>sr_mechanism_model/SimpleTransmission</type>
    <actuator name="lh_MFJ2">
      <mechanicalReduction>1</mechanicalReduction>
    </actuator>
    <joint name="lh_MFJ2">
      <hardwareInterface>EffortJointInterface</hardwareInterface>
      <hardwareInterface>PositionJointInterface</hardwareInterface>
    </joint>
  </transmission>
  <gazebo reference="lh_mfmiddle">
    <selfCollide>true</selfCollide>
  </gazebo>
  <link name="lh_mfdistal">
    <inertial>
      <mass value="0.012"/>
      <origin xyz="0 0 0.012"/>
      <inertia ixx="0.00000094" ixy="0.0" ixz="0.0" iyy="0.0000011" iyz="0.0" izz="0.00000053"/>
    </inertial>
    <visual>
      <origin rpy="0 0 0" xyz="0 0 0"/>
      <geometry name="lh_mfdistal_visual">
        <mesh filename="shadow_hand/meshes/f_distal/bt_sp/f_distal_bt_sp_from_dae.obj" scale="0.001 0.001 0.001"/>
      </geometry>
    </visual>
    <collision>
      <origin rpy="0 0 0" xyz="0 0 0"/>
      <geometry name="lh_mfdistal_collision_geom">
        <mesh filename="shadow_hand/meshes/f_distal/bt_sp/f_distal_bt_sp_from_dae.obj" scale="0.001 0.001 0.001"/>
      </geometry>
    </collision>
  </link>
  <joint name="lh_MFJ1" type="revolute">
    <parent link="lh_mfmiddle"/>
    <child link="lh_mfdistal"/>
    <origin rpy="0 0 0" xyz="0 0 0.025"/>
    <axis xyz="1 0 0"/>
    <!-- standard distal joint -->
    <limit effort="2" lower="0" upper="1.5707963267948966" velocity="2.0"/>
    <dynamics damping="0.1"/>
  </joint>
  <gazebo reference="lh_MFJ1">
    <provideFeedback>1</provideFeedback>
    <implicitSpringDamper>1</implicitSpringDamper>
  </gazebo>
  <link name="lh_mftip">
    <inertial>
      <mass value="0.001"/>
      <inertia ixx="0.0" ixy="0.0" ixz="0.0" iyy="0.0" iyz="0.0" izz="0.0"/>
    </inertial>
  </link>
  <joint name="lh_MFtip" type="fixed">
    <parent link="lh_mfdistal"/>
    <child link="lh_mftip"/>
    <origin rpy="0 0 0" xyz="0 0 0.026"/>
  </joint>
  <gazebo reference="lh_mfdistal">
    <sensor name="lh_mfdistal_contact" type="contact">
      <always_on>1</always_on>
      <update_rate>1000.0</update_rate>
      <contact>
        <collision>lh_mfdistal_collision</collision>
        <topic>lh_mfdistal_collision</topic>
      </contact>
      <plugin filename="libgazebo_ros_bumper.so" name="lh_mfdistal_gazebo_ros_bumper_controller">
        <alwaysOn>true</alwaysOn>
        <frameName>lh_mfdistal</frameName>
        <updateRate>100.0</updateRate>
        <bumperTopicName>contacts/lh_mf/distal</bumperTopicName>
      </plugin>
    </sensor>
    <mu1 value="500.0"/>
    <mu2 value="500.0"/>
    <kp value="10000000.0"/>
    <kd value="1.0"/>
    <selfCollide>true</selfCollide>
  </gazebo>
  <transmission name="lh_mfdistal_transmission">
    <type>sr_mechanism_model/SimpleTransmission</type>
    <actuator name="lh_MFJ1">
      <mechanicalReduction>1</mechanicalReduction>
    </actuator>
    <joint name="lh_MFJ1">
      <hardwareInterface>EffortJointInterface</hardwareInterface>
      <hardwareInterface>PositionJointInterface</hardwareInterface>
    </joint>
  </transmission>
  <!--added by LiWen on Apr 17 2025 -->
  <link name="lh_rfknuckle">
    <inertial>
      <origin rpy="0 0 0" xyz="0 0 0"/>
      <mass value="0.008"/>
      <inertia ixx="0.00000026" ixy="0.0" ixz="0.0" iyy="0.00000026" iyz="0.0" izz="0.00000032"/>
    </inertial>
    <visual>
      <origin rpy="0 0 0" xyz="0 0 0.0005"/>
      <geometry name="lh_rfknuckle_visual">
        <mesh filename="shadow_hand/meshes/f_knuckle/f_knuckle_E3M5_from_dae.obj" scale="0.001 0.001 0.001"/>
      </geometry>
      <material name="LightGrey"/>
    </visual>
    <collision>
      <origin rpy="0 1.5708 0" xyz="0 0 0"/>
      <geometry name="lh_rfknuckle_collision_geom">
        <cylinder length="0.014" radius="0.007"/>
      </geometry>
    </collision>
  </link>
  <joint name="lh_RFJ4" type="revolute">
    <parent link="lh_palm"/>
    <child link="lh_rfknuckle"/>
    <!--<origin xyz="0.033 0 0.095" rpy="0 0 0" />-->
    <origin rpy="0 0 0" xyz="0.011 0 0.095"/>
    <axis xyz="0 -1 0"/>
    <limit effort="2" lower="-0.3490658503988659" upper="0.3490658503988659" velocity="2.0"/>
    <dynamics damping="0.1"/>
  </joint>
  <gazebo reference="lh_RFJ4">
    <provideFeedback>1</provideFeedback>
    <implicitSpringDamper>1</implicitSpringDamper>
  </gazebo>
  <transmission name="lh_rfknuckle_transmission">
    <type>sr_mechanism_model/SimpleTransmission</type>
    <actuator name="lh_RFJ4">
      <mechanicalReduction>1</mechanicalReduction>
    </actuator>
    <joint name="lh_RFJ4">
      <hardwareInterface>EffortJointInterface</hardwareInterface>
      <hardwareInterface>PositionJointInterface</hardwareInterface>
    </joint>
  </transmission>
  <gazebo reference="lh_rfknuckle">
    <!-- knuckle is not highly exposed, so bumper is not useful -->
    <material>Gazebo/Grey</material>
  </gazebo>
  <link name="lh_rfproximal">
    <inertial>
      <mass value="0.030"/>
      <origin xyz="0 0 0.0225"/>
      <inertia ixx="0.0000098" ixy="0.0" ixz="0.0" iyy="0.00001" iyz="0.0" izz="0.0000018"/>
    </inertial>
    <visual>
      <origin rpy="0 0 0" xyz="0 0 0"/>
      <geometry name="lh_rfproximal_visual">
        <mesh filename="shadow_hand/meshes/f_proximal/f_proximal_E3M5_from_dae.obj" scale="0.001 0.001 0.001"/>
      </geometry>
      <material name="Grey"/>
    </visual>
    <collision>
      <origin rpy="0 0 0" xyz="0 0 0.025"/>
      <geometry name="lh_rfproximal_collision_geom">
        <cylinder length="0.040" radius="0.007"/>
      </geometry>
    </collision>
  </link>
  <joint name="lh_RFJ3" type="revolute">
    <parent link="lh_rfknuckle"/>
    <child link="lh_rfproximal"/>
    <origin rpy="0 0 0" xyz="0 0 0"/>
    <axis xyz="1 0 0"/>
    <limit effort="2" lower="-0.2617993877991494" upper="1.5707963267948966" velocity="2.0"/>
    <dynamics damping="0.1"/>
  </joint>
  <gazebo reference="lh_RFJ3">
    <provideFeedback>1</provideFeedback>
    <implicitSpringDamper>1</implicitSpringDamper>
  </gazebo>
  <transmission name="lh_rfproximal_transmission">
    <type>sr_mechanism_model/SimpleTransmission</type>
    <actuator name="lh_RFJ3">
      <mechanicalReduction>1</mechanicalReduction>
    </actuator>
    <joint name="lh_RFJ3">
      <hardwareInterface>EffortJointInterface</hardwareInterface>
      <hardwareInterface>PositionJointInterface</hardwareInterface>
    </joint>
  </transmission>
  <gazebo reference="lh_rfproximal">
    <selfCollide>true</selfCollide>
  </gazebo>
  <link name="lh_rfmiddle">
    <inertial>
      <origin rpy="0 0 0" xyz="0 0 0.0125"/>
      <mass value="0.017"/>
      <inertia ixx="0.0000026" ixy="0.0" ixz="0.0" iyy="0.0000027" iyz="0.0" izz="0.00000087"/>
    </inertial>
    <visual>
      <origin rpy="0 0 0" xyz="0 0 0"/>
      <geometry name="lh_rfmiddle_visual">
        <mesh filename="shadow_hand/meshes/f_middle/f_middle_E3M5_from_dae.obj" scale="0.001 0.001 0.001"/>
      </geometry>
      <material name="Grey"/>
    </visual>
    <collision>
      <origin rpy="0 0 0" xyz="0 0 0.0125"/>
      <geometry name="lh_rfmiddle_collision_geom">
        <cylinder length="0.025" radius="0.007"/>
      </geometry>
    </collision>
    <collision>
      <origin rpy="0 0 0" xyz="0 0 0.0"/>
      <geometry>
        <sphere radius="0.007"/>
      </geometry>
    </collision>
    <collision>
      <origin rpy="0 0 0" xyz="0 0 0.025"/>
      <geometry>
        <sphere radius="0.007"/>
      </geometry>
    </collision>
  </link>
  <joint name="lh_RFJ2" type="revolute">
    <parent link="lh_rfproximal"/>
    <child link="lh_rfmiddle"/>
    <origin rpy="0 0 0" xyz="0 0 0.045"/>
    <axis xyz="1 0 0"/>
    <limit effort="2" lower="0" upper="1.5707963267948966" velocity="2.0"/>
    <dynamics damping="0.1"/>
  </joint>
  <gazebo reference="lh_RFJ2">
    <provideFeedback>1</provideFeedback>
    <implicitSpringDamper>1</implicitSpringDamper>
  </gazebo>
  <transmission name="lh_rfmiddle_transmission">
    <type>sr_mechanism_model/SimpleTransmission</type>
    <actuator name="lh_RFJ2">
      <mechanicalReduction>1</mechanicalReduction>
    </actuator>
    <joint name="lh_RFJ2">
      <hardwareInterface>EffortJointInterface</hardwareInterface>
      <hardwareInterface>PositionJointInterface</hardwareInterface>
    </joint>
  </transmission>
  <gazebo reference="lh_rfmiddle">
    <selfCollide>true</selfCollide>
  </gazebo>
  <link name="lh_rfdistal">
    <inertial>
      <mass value="0.012"/>
      <origin xyz="0 0 0.012"/>
      <inertia ixx="0.00000094" ixy="0.0" ixz="0.0" iyy="0.0000011" iyz="0.0" izz="0.00000053"/>
    </inertial>
    <visual>
      <origin rpy="0 0 0" xyz="0 0 0"/>
      <geometry name="lh_rfdistal_visual">
        <mesh filename="shadow_hand/meshes/f_distal/bt_sp/f_distal_bt_sp_from_dae.obj" scale="0.001 0.001 0.001"/>
      </geometry>
    </visual>
    <collision>
      <origin rpy="0 0 0" xyz="0 0 0"/>
      <geometry name="lh_rfdistal_collision_geom">
        <mesh filename="shadow_hand/meshes/f_distal/bt_sp/f_distal_bt_sp_from_dae.obj" scale="0.001 0.001 0.001"/>
      </geometry>
    </collision>
  </link>
  <joint name="lh_RFJ1" type="revolute">
    <parent link="lh_rfmiddle"/>
    <child link="lh_rfdistal"/>
    <origin rpy="0 0 0" xyz="0 0 0.025"/>
    <axis xyz="1 0 0"/>
    <!-- standard distal joint -->
    <limit effort="2" lower="0" upper="1.5707963267948966" velocity="2.0"/>
    <dynamics damping="0.1"/>
  </joint>
  <gazebo reference="lh_RFJ1">
    <provideFeedback>1</provideFeedback>
    <implicitSpringDamper>1</implicitSpringDamper>
  </gazebo>
  <link name="lh_rftip">
    <inertial>
      <mass value="0.001"/>
      <inertia ixx="0.0" ixy="0.0" ixz="0.0" iyy="0.0" iyz="0.0" izz="0.0"/>
    </inertial>
  </link>
  <joint name="lh_RFtip" type="fixed">
    <parent link="lh_rfdistal"/>
    <child link="lh_rftip"/>
    <origin rpy="0 0 0" xyz="0 0 0.026"/>
  </joint>
  <gazebo reference="lh_rfdistal">
    <sensor name="lh_rfdistal_contact" type="contact">
      <always_on>1</always_on>
      <update_rate>1000.0</update_rate>
      <contact>
        <collision>lh_rfdistal_collision</collision>
        <topic>lh_rfdistal_collision</topic>
      </contact>
      <plugin filename="libgazebo_ros_bumper.so" name="lh_rfdistal_gazebo_ros_bumper_controller">
        <alwaysOn>true</alwaysOn>
        <frameName>lh_rfdistal</frameName>
        <updateRate>100.0</updateRate>
        <bumperTopicName>contacts/lh_rf/distal</bumperTopicName>
      </plugin>
    </sensor>
    <mu1 value="500.0"/>
    <mu2 value="500.0"/>
    <kp value="10000000.0"/>
    <kd value="1.0"/>
    <selfCollide>true</selfCollide>
  </gazebo>
  <transmission name="lh_rfdistal_transmission">
    <type>sr_mechanism_model/SimpleTransmission</type>
    <actuator name="lh_RFJ1">
      <mechanicalReduction>1</mechanicalReduction>
    </actuator>
    <joint name="lh_RFJ1">
      <hardwareInterface>EffortJointInterface</hardwareInterface>
      <hardwareInterface>PositionJointInterface</hardwareInterface>
    </joint>
  </transmission>
  <!--added by LiWen on Apr 17 2025 -->
  <link name="lh_lfmetacarpal">
    <inertial>
      <origin rpy="0 -0.9599 0" xyz="-0.03174867647058824 0 0.02235294117647059"/>
      <mass value="0.030"/>
      <inertia ixx="0.0000145" ixy="0.0" ixz="0.0" iyy="0.00001638" iyz="0.0" izz="0.000004272"/>
    </inertial>
    <visual>
      <origin rpy="0 -0.9599 0" xyz="0 0 0"/>
      <geometry name="lh_lfmetacarpal_visual">
        <mesh filename="shadow_hand/meshes/lf_metacarpal/lf_metacarpal_E3M5_from_dae_scaled_n0.001_0.001_0.001.obj" scale="1 1 1"/>
      </geometry>
      <material name="Grey"/>
    </visual>
    <collision>
      <origin rpy="0 -0.9599 0" xyz="-0.026986375 0 0.019"/>
      <geometry name="lh_lfmetacarpal_collision_geom">
        <box size="0.018 0.024 0.040"/>
      </geometry>
    </collision>
  </link>
  <joint name="lh_LFJ5" type="revolute">
    <parent link="lh_palm"/>
    <child link="lh_lfmetacarpal"/>
    <origin rpy="0 0.9599 0" xyz="0.033 0 0.02071"/>
    <axis xyz="1 0 0"/>
    <limit effort="2" lower="0" upper="0.7853981633974483" velocity="2.0"/>
    <dynamics damping="0.1"/>
  </joint>
  <gazebo reference="lh_LFJ5">
    <provideFeedback>1</provideFeedback>
    <implicitSpringDamper>1</implicitSpringDamper>
  </gazebo>
  <transmission name="lh_lfmetacarpal_transmission">
    <type>sr_mechanism_model/SimpleTransmission</type>
    <actuator name="lh_LFJ5">
      <mechanicalReduction>1</mechanicalReduction>
    </actuator>
    <joint name="lh_LFJ5">
      <hardwareInterface>EffortJointInterface</hardwareInterface>
      <hardwareInterface>PositionJointInterface</hardwareInterface>
    </joint>
  </transmission>
  <gazebo reference="lh_lfmetacarpal">
    <selfCollide>true</selfCollide>
  </gazebo>
  <link name="lh_lfknuckle">
    <inertial>
      <origin rpy="0 0 0" xyz="0 0 0"/>
      <mass value="0.008"/>
      <inertia ixx="0.00000026" ixy="0.0" ixz="0.0" iyy="0.00000026" iyz="0.0" izz="0.00000032"/>
    </inertial>
    <visual>
      <origin rpy="0 0 0" xyz="0 0 0.0005"/>
      <geometry name="lh_lfknuckle_visual">
        <mesh filename="shadow_hand/meshes/f_knuckle/f_knuckle_E3M5_from_dae.obj" scale="0.001 0.001 0.001"/>
      </geometry>
      <material name="LightGrey"/>
    </visual>
    <collision>
      <origin rpy="0 1.5708 0" xyz="0 0 0"/>
      <geometry name="lh_lfknuckle_collision_geom">
        <cylinder length="0.014" radius="0.007"/>
      </geometry>
    </collision>
  </link>
  <joint name="lh_LFJ4" type="revolute">
    <parent link="lh_lfmetacarpal"/>
    <child link="lh_lfknuckle"/>
    <!--<origin xyz="0.033 0 0.095" rpy="0 0 0" />-->
    <origin rpy="0 -0.9599 0" xyz="-0.05397275 0 0.03779463"/>
    <axis xyz="0 -1 0"/>
    <limit effort="2" lower="-0.3490658503988659" upper="0.3490658503988659" velocity="2.0"/>
    <dynamics damping="0.1"/>
  </joint>
  <gazebo reference="lh_LFJ4">
    <provideFeedback>1</provideFeedback>
    <implicitSpringDamper>1</implicitSpringDamper>
  </gazebo>
  <transmission name="lh_lfknuckle_transmission">
    <type>sr_mechanism_model/SimpleTransmission</type>
    <actuator name="lh_LFJ4">
      <mechanicalReduction>1</mechanicalReduction>
    </actuator>
    <joint name="lh_LFJ4">
      <hardwareInterface>EffortJointInterface</hardwareInterface>
      <hardwareInterface>PositionJointInterface</hardwareInterface>
    </joint>
  </transmission>
  <gazebo reference="lh_lfknuckle">
    <!-- knuckle is not highly exposed, so bumper is not useful -->
    <material>Gazebo/Grey</material>
  </gazebo>
  <link name="lh_lfproximal">
    <inertial>
      <mass value="0.030"/>
      <origin xyz="0 0 0.0225"/>
      <inertia ixx="0.0000098" ixy="0.0" ixz="0.0" iyy="0.00001" iyz="0.0" izz="0.0000018"/>
    </inertial>
    <visual>
      <origin rpy="0 0 0" xyz="0 0 0"/>
      <geometry name="lh_lfproximal_visual">
        <mesh filename="shadow_hand/meshes/f_proximal/f_proximal_E3M5_from_dae.obj" scale="0.001 0.001 0.001"/>
      </geometry>
      <material name="Grey"/>
    </visual>
    <collision>
      <origin rpy="0 0 0" xyz="0 0 0.025"/>
      <geometry name="lh_lfproximal_collision_geom">
        <cylinder length="0.040" radius="0.007"/>
      </geometry>
    </collision>
  </link>
  <joint name="lh_LFJ3" type="revolute">
    <parent link="lh_lfknuckle"/>
    <child link="lh_lfproximal"/>
    <origin rpy="0 0 0" xyz="0 0 0"/>
    <axis xyz="1 0 0"/>
    <limit effort="2" lower="-0.2617993877991494" upper="1.5707963267948966" velocity="2.0"/>
    <dynamics damping="0.1"/>
  </joint>
  <gazebo reference="lh_LFJ3">
    <provideFeedback>1</provideFeedback>
    <implicitSpringDamper>1</implicitSpringDamper>
  </gazebo>
  <transmission name="lh_lfproximal_transmission">
    <type>sr_mechanism_model/SimpleTransmission</type>
    <actuator name="lh_LFJ3">
      <mechanicalReduction>1</mechanicalReduction>
    </actuator>
    <joint name="lh_LFJ3">
      <hardwareInterface>EffortJointInterface</hardwareInterface>
      <hardwareInterface>PositionJointInterface</hardwareInterface>
    </joint>
  </transmission>
  <gazebo reference="lh_lfproximal">
    <selfCollide>true</selfCollide>
  </gazebo>
  <link name="lh_lfmiddle">
    <inertial>
      <origin rpy="0 0 0" xyz="0 0 0.0125"/>
      <mass value="0.017"/>
      <inertia ixx="0.0000026" ixy="0.0" ixz="0.0" iyy="0.0000027" iyz="0.0" izz="0.00000087"/>
    </inertial>
    <visual>
      <origin rpy="0 0 0" xyz="0 0 0"/>
      <geometry name="lh_lfmiddle_visual">
        <mesh filename="shadow_hand/meshes/f_middle/f_middle_E3M5_from_dae.obj" scale="0.001 0.001 0.001"/>
      </geometry>
      <material name="Grey"/>
    </visual>
    <collision>
      <origin rpy="0 0 0" xyz="0 0 0.0125"/>
      <geometry name="lh_lfmiddle_collision_geom">
        <cylinder length="0.025" radius="0.007"/>
      </geometry>
    </collision>
    <collision>
      <origin rpy="0 0 0" xyz="0 0 0.0"/>
      <geometry>
        <sphere radius="0.007"/>
      </geometry>
    </collision>
    <collision>
      <origin rpy="0 0 0" xyz="0 0 0.025"/>
      <geometry>
        <sphere radius="0.007"/>
      </geometry>
    </collision>
  </link>
  <joint name="lh_LFJ2" type="revolute">
    <parent link="lh_lfproximal"/>
    <child link="lh_lfmiddle"/>
    <origin rpy="0 0 0" xyz="0 0 0.045"/>
    <axis xyz="1 0 0"/>
    <limit effort="2" lower="0" upper="1.5707963267948966" velocity="2.0"/>
    <dynamics damping="0.1"/>
  </joint>
  <gazebo reference="lh_LFJ2">
    <provideFeedback>1</provideFeedback>
    <implicitSpringDamper>1</implicitSpringDamper>
  </gazebo>
  <transmission name="lh_lfmiddle_transmission">
    <type>sr_mechanism_model/SimpleTransmission</type>
    <actuator name="lh_LFJ2">
      <mechanicalReduction>1</mechanicalReduction>
    </actuator>
    <joint name="lh_LFJ2">
      <hardwareInterface>EffortJointInterface</hardwareInterface>
      <hardwareInterface>PositionJointInterface</hardwareInterface>
    </joint>
  </transmission>
  <gazebo reference="lh_lfmiddle">
    <selfCollide>true</selfCollide>
  </gazebo>
  <link name="lh_lfdistal">
    <inertial>
      <mass value="0.012"/>
      <origin xyz="0 0 0.012"/>
      <inertia ixx="0.00000094" ixy="0.0" ixz="0.0" iyy="0.0000011" iyz="0.0" izz="0.00000053"/>
    </inertial>
    <visual>
      <origin rpy="0 0 0" xyz="0 0 0"/>
      <geometry name="lh_lfdistal_visual">
        <mesh filename="shadow_hand/meshes/f_distal/bt_sp/f_distal_bt_sp_from_dae.obj" scale="0.001 0.001 0.001"/>
      </geometry>
    </visual>
    <collision>
      <origin rpy="0 0 0" xyz="0 0 0"/>
      <geometry name="lh_lfdistal_collision_geom">
        <mesh filename="shadow_hand/meshes/f_distal/bt_sp/f_distal_bt_sp_from_dae.obj" scale="0.001 0.001 0.001"/>
      </geometry>
    </collision>
  </link>
  <joint name="lh_LFJ1" type="revolute">
    <parent link="lh_lfmiddle"/>
    <child link="lh_lfdistal"/>
    <origin rpy="0 0 0" xyz="0 0 0.025"/>
    <axis xyz="1 0 0"/>
    <!-- standard distal joint -->
    <limit effort="2" lower="0" upper="1.5707963267948966" velocity="2.0"/>
    <dynamics damping="0.1"/>
  </joint>
  <gazebo reference="lh_LFJ1">
    <provideFeedback>1</provideFeedback>
    <implicitSpringDamper>1</implicitSpringDamper>
  </gazebo>
  <link name="lh_lftip">
    <inertial>
      <mass value="0.001"/>
      <inertia ixx="0.0" ixy="0.0" ixz="0.0" iyy="0.0" iyz="0.0" izz="0.0"/>
    </inertial>
  </link>
  <joint name="lh_LFtip" type="fixed">
    <parent link="lh_lfdistal"/>
    <child link="lh_lftip"/>
    <origin rpy="0 0 0" xyz="0 0 0.026"/>
  </joint>
  <gazebo reference="lh_lfdistal">
    <sensor name="lh_lfdistal_contact" type="contact">
      <always_on>1</always_on>
      <update_rate>1000.0</update_rate>
      <contact>
        <collision>lh_lfdistal_collision</collision>
        <topic>lh_lfdistal_collision</topic>
      </contact>
      <plugin filename="libgazebo_ros_bumper.so" name="lh_lfdistal_gazebo_ros_bumper_controller">
        <alwaysOn>true</alwaysOn>
        <frameName>lh_lfdistal</frameName>
        <updateRate>100.0</updateRate>
        <bumperTopicName>contacts/lh_lf/distal</bumperTopicName>
      </plugin>
    </sensor>
    <mu1 value="500.0"/>
    <mu2 value="500.0"/>
    <kp value="10000000.0"/>
    <kd value="1.0"/>
    <selfCollide>true</selfCollide>
  </gazebo>
  <transmission name="lh_lfdistal_transmission">
    <type>sr_mechanism_model/SimpleTransmission</type>
    <actuator name="lh_LFJ1">
      <mechanicalReduction>1</mechanicalReduction>
    </actuator>
    <joint name="lh_LFJ1">
      <hardwareInterface>EffortJointInterface</hardwareInterface>
      <hardwareInterface>PositionJointInterface</hardwareInterface>
    </joint>
  </transmission>
  <!--added by LiWen on Apr 17 2025 -->
  <link name="lh_thbase">
    <inertial>
      <mass value="0.010"/>
      <origin rpy="0 0 0" xyz="0 0 0"/>
      <inertia ixx="0.00000016" ixy="0.0" ixz="0.0" iyy="0.00000016" iyz="0.0" izz="0.00000016"/>
    </inertial>
    <visual>
      <origin rpy="0 0 0" xyz="0 0 0"/>
      <geometry name="lh_thbase_visual">
        <box size="0.001 0.001 0.001"/>
      </geometry>
      <material name="shadow_thbase_material">
        <color rgba="0.5 0.5 0.5 1.0"/>
      </material>
    </visual>
    <collision>
      <origin rpy="0 0 0" xyz="0 0 0"/>
      <geometry name="lh_thbase_collision_geom">
        <sphere radius="0.011"/>
      </geometry>
    </collision>
  </link>
  <joint name="lh_THJ5" type="revolute">
    <parent link="lh_palm"/>
    <child link="lh_thbase"/>
    <origin rpy="-0.7853981633974483 0 1.5707963267948966" xyz="-0.034 -0.00858 0.029"/>
    <axis xyz="0 0 1"/>
    <limit effort="5.0" lower="-1.0471975511965976" upper="1.0471975511965976" velocity="4.0"/>
    <dynamics damping="0.2"/>
  </joint>
  <gazebo reference="lh_THJ5">
    <provideFeedback>1</provideFeedback>
    <implicitSpringDamper>1</implicitSpringDamper>
  </gazebo>
  <transmission name="lh_thbase_transmission">
    <type>sr_mechanism_model/SimpleTransmission</type>
    <actuator name="lh_THJ5">
      <mechanicalReduction>1</mechanicalReduction>
    </actuator>
    <joint name="lh_THJ5">
      <hardwareInterface>EffortJointInterface</hardwareInterface>
      <hardwareInterface>PositionJointInterface</hardwareInterface>
    </joint>
  </transmission>
  <gazebo reference="lh_thbase">
    <!-- base is inside the proximal and not exposed, so bumper is not needed -->
    <selfCollide>false</selfCollide>
  </gazebo>
  <link name="lh_thproximal">
    <inertial>
      <mass value="0.040"/>
      <origin rpy="0 0 0" xyz="0 0 0.019"/>
      <inertia ixx="0.0000136" ixy="0.0" ixz="0.0" iyy="0.0000136" iyz="0.0" izz="0.00000313"/>
    </inertial>
    <visual>
      <origin rpy="0 0 1.5707963267948966" xyz="0 0 0"/>
      <geometry name="lh_thproximal_visual">
        <mesh filename="shadow_hand/meshes/th_proximal/th_proximal_E3M5_from_dae.obj" scale="0.001 0.001 0.001"/>
      </geometry>
      <material name="shadow_thproximal_material">
        <color rgba="0.2 0.2 0.2 1.0"/>
      </material>
    </visual>
    <collision>
      <origin rpy="0 0 0" xyz="0 0 0.020"/>
      <geometry name="lh_thproximal_collision_geom">
        <cylinder length="0.018" radius="0.012"/>
      </geometry>
    </collision>
  </link>
  <joint name="lh_THJ4" type="revolute">
    <parent link="lh_thbase"/>
    <child link="lh_thproximal"/>
    <origin rpy="0 0 0" xyz="0 0 0"/>
    <axis xyz="0 -1 0"/>
    <limit effort="3" lower="0.0" upper="1.2217304763960306" velocity="4.0"/>
    <dynamics damping="0.2"/>
  </joint>
  <gazebo reference="lh_THJ4">
    <provideFeedback>1</provideFeedback>
    <implicitSpringDamper>1</implicitSpringDamper>
  </gazebo>
  <transmission name="lh_thproximal_transmission">
    <type>sr_mechanism_model/SimpleTransmission</type>
    <actuator name="lh_THJ4">
      <mechanicalReduction>1</mechanicalReduction>
    </actuator>
    <joint name="lh_THJ4">
      <hardwareInterface>EffortJointInterface</hardwareInterface>
      <hardwareInterface>PositionJointInterface</hardwareInterface>
    </joint>
  </transmission>
  <gazebo reference="lh_thproximal">
    <selfCollide>false</selfCollide>
  </gazebo>
  <link name="lh_thhub">
    <inertial>
      <mass value="0.005"/>
      <origin rpy="0 0 0" xyz="0 0 0"/>
      <inertia ixx="0.000001" ixy="0.0" ixz="0.0" iyy="0.000001" iyz="0.0" izz="0.0000003"/>
    </inertial>
    <visual>
      <origin rpy="0 0 0" xyz="0 0 0"/>
      <geometry name="lh_thhub_visual">
        <box size="0.001 0.001 0.001"/>
      </geometry>
      <material name="shadow_thhub_material">
        <color rgba="0.7 0.7 0.7 1.0"/>
      </material>
    </visual>
    <collision>
      <origin rpy="0 0 0" xyz="0 0 0"/>
      <geometry name="lh_thhub_collision_geom">
        <sphere radius="0.010"/>
      </geometry>
    </collision>
  </link>
  <joint name="lh_THJ3" type="revolute">
    <parent link="lh_thproximal"/>
    <child link="lh_thhub"/>
    <origin rpy="0 0 0" xyz="0 0 0.038"/>
    <axis xyz="0 -1 0"/>
    <limit effort="2.0" lower="-0.20943951023931953" upper="0.20943951023931953" velocity="4.0"/>
    <dynamics damping="0.2"/>
  </joint>
  <gazebo reference="lh_THJ3">
    <provideFeedback>1</provideFeedback>
    <implicitSpringDamper>1</implicitSpringDamper>
  </gazebo>
  <transmission name="lh_thhub_transmission">
    <type>sr_mechanism_model/SimpleTransmission</type>
    <actuator name="lh_THJ3">
      <mechanicalReduction>1</mechanicalReduction>
    </actuator>
    <joint name="lh_THJ3">
      <hardwareInterface>EffortJointInterface</hardwareInterface>
      <hardwareInterface>PositionJointInterface</hardwareInterface>
    </joint>
  </transmission>
  <gazebo reference="lh_thhub">
    <!-- hub is inside the proximal and not exposed, so bumper is not needed -->
    <selfCollide>false</selfCollide>
  </gazebo>
  <link name="lh_thmiddle">
    <inertial>
      <mass value="0.020"/>
      <origin rpy="0 0 0" xyz="0 0 0.016"/>
      <inertia ixx="0.0000051" ixy="0.0" ixz="0.0" iyy="0.0000051" iyz="0.0" izz="0.00000121"/>
    </inertial>
    <visual>
      <origin rpy="0 0 1.5707963267948966" xyz="0 0 0"/>
      <geometry name="lh_thmiddle_visual">
        <mesh filename="shadow_hand/meshes/th_middle/th_middle_E3M5_from_dae.obj" scale="0.001 0.001 0.001"/>
      </geometry>
      <material name="shadow_thmiddle_material">
        <color rgba="0.2 0.2 0.2 1.0"/>
      </material>
    </visual>
    <collision>
      <origin rpy="0 0 0" xyz="0 0 0.012"/>
      <geometry name="lh_thmiddle_collision_geom">
        <cylinder length="0.018" radius="0.011"/>
      </geometry>
    </collision>
    <collision>
      <origin rpy="0 0 0" xyz="0 0 0.019"/>
      <geometry>
        <sphere radius="0.011"/>
      </geometry>
    </collision>
    <collision>
      <origin rpy="0 1.5708 0" xyz="0 0 0.032"/>
      <geometry>
        <cylinder length="0.014" radius="0.010"/>
      </geometry>
    </collision>
  </link>
  <joint name="lh_THJ2" type="revolute">
    <parent link="lh_thhub"/>
    <child link="lh_thmiddle"/>
    <origin rpy="0 0 0" xyz="0 0 0"/>
    <axis xyz="1 0 0"/>
    <limit effort="2.0" lower="-0.6981317007977318" upper="0.6981317007977318" velocity="2.0"/>
    <dynamics damping="0.1"/>
  </joint>
  <gazebo reference="lh_THJ2">
    <provideFeedback>1</provideFeedback>
    <implicitSpringDamper>1</implicitSpringDamper>
  </gazebo>
  <transmission name="lh_thmiddle_transmission">
    <type>sr_mechanism_model/SimpleTransmission</type>
    <actuator name="lh_THJ2">
      <mechanicalReduction>1</mechanicalReduction>
    </actuator>
    <joint name="lh_THJ2">
      <hardwareInterface>EffortJointInterface</hardwareInterface>
      <hardwareInterface>PositionJointInterface</hardwareInterface>
    </joint>
  </transmission>
  <gazebo reference="lh_thmiddle">
  </gazebo>
  <!-- common -->
  <link name="lh_thdistal">
    <inertial>
      <mass value="0.016"/>
      <origin rpy="0 0 0" xyz="0 0 0.01375"/>
      <inertia ixx="0.0000021" ixy="0.0" ixz="0.0" iyy="0.0000022" iyz="0.0" izz="0.000001"/>
    </inertial>
    <visual>
      <origin rpy="0 0 0" xyz="0 0 0"/>
      <geometry name="lh_thdistal_visual">
        <mesh filename="shadow_hand/meshes/th_distal/bt_sp/th_distal_bt_sp_from_dae.obj" scale="0.001 0.001 0.001"/>
      </geometry>
      <material name="shadow_thmiddle_material">
        <color rgba="0.2 0.2 0.2 1.0"/>
      </material>
    </visual>
    <collision>
      <origin rpy="0 0 0" xyz="0 0 0"/>
      <geometry name="lh_thmiddle_collision_geom">
        <mesh filename="shadow_hand/meshes/th_distal/bt_sp/th_distal_bt_sp_from_dae.obj" scale="0.001 0.001 0.001"/>
      </geometry>
    </collision>
  </link>
  <joint name="lh_THJ1" type="revolute">
    <parent link="lh_thmiddle"/>
    <child link="lh_thdistal"/>
    <origin rpy="0 0 0" xyz="0 0 0.032"/>
    <axis xyz="1 0 0"/>
    <limit effort="1.0" lower="-0.2617993877991494" upper="1.5707963267948966" velocity="4.0"/>
    <dynamics damping="0.2"/>
  </joint>
  <gazebo reference="lh_THJ1">
    <provideFeedback>1</provideFeedback>
    <implicitSpringDamper>1</implicitSpringDamper>
  </gazebo>
  <link name="lh_thtip">
    <inertial>
      <mass value="0.001"/>
      <inertia ixx="0.0" ixy="0.0" ixz="0.0" iyy="0.0" iyz="0.0" izz="0.0"/>
    </inertial>
  </link>
  <joint name="lh_thtip" type="fixed">
    <parent link="lh_thdistal"/>
    <child link="lh_thtip"/>
    <origin rpy="0 0 0" xyz="0 0 0.0275"/>
  </joint>
  <gazebo reference="lh_thdistal">
    <sensor name="lh_thdistal_contact" type="contact">
      <always_on>1</always_on>
      <update_rate>1000.0</update_rate>
      <contact>
        <collision>lh_thdistal_collision</collision>
        <topic>lh_thdistal_collision</topic>
      </contact>
      <plugin filename="libgazebo_ros_bumper.so" name="lh_thdistal_gazebo_ros_bumper_controller">
        <alwaysOn>true</alwaysOn>
        <frameName>lh_thdistal</frameName>
        <updateRate>100.0</updateRate>
        <bumperTopicName>contacts/lh_th/distal</bumperTopicName>
      </plugin>
    </sensor>
    <mu1 value="500.0"/>
    <mu2 value="500.0"/>
    <kp value="10000000.0"/>
    <kd value="1.0"/>
    <selfCollide>true</selfCollide>
  </gazebo>
  <transmission name="lh_thdistal_transmission">
    <type>sr_mechanism_model/SimpleTransmission</type>
    <actuator name="lh_THJ1">
      <mechanicalReduction>1</mechanicalReduction>
    </actuator>
    <joint name="lh_THJ1">
      <hardwareInterface>EffortJointInterface</hardwareInterface>
      <hardwareInterface>PositionJointInterface</hardwareInterface>
    </joint>
  </transmission>
  <!-- Conversion were obtained from http://www.e-paint.co.uk/Lab_values.asp
       unless otherwise stated. -->
  <!-- link list -->
  <link name="gofa2_base">
    <!-- See note 1 in package.xml about the inertial and mass values -->
    <inertial>
      <mass value="3.50083457958494"/>
      <origin xyz="-0.0012013793465437 -0.000175191786981708 0.0862146007385352"/>
      <inertia ixx="0.0153015257917955" ixy="-6.40155032892694E-05" ixz="-0.000276708687772683" iyy="0.0159333503953857" iyz="-3.98029144780725E-05" izz="0.0112162302268266"/>
    </inertial>
    <collision name="collision">
      <geometry>
        <mesh filename="gofa_arm/meshes/collision/base_from_STL.obj"/>
      </geometry>
    </collision>
    <visual name="visual">
      <geometry>
        <mesh filename="gofa_arm/meshes/visual/base_from_STL.obj"/>
      </geometry>
      <material name="">
        <color rgba="1 1 0 1"/>
      </material>
    </visual>
  </link>
  <link name="gofa2_link_1">
    <!-- See note 1 in package.xml about the inertial and mass values -->
    <inertial>
      <mass value="2.76743491139404"/>
      <origin xyz="2.08682453325091E-06 0.0103608399967513 0.0705307203199506"/>
      <inertia ixx="0.0115158625894577" ixy="6.37197693598838E-08" ixz="5.98954393680154E-09" iyy="0.006494848329231" iyz="-0.000196668400316843" izz="0.0109446835358581"/>
    </inertial>
    <collision name="collision">
      <geometry>
        <mesh filename="gofa_arm/meshes/collision/link_1_from_STL.obj"/>
      </geometry>
    </collision>
    <visual name="visual">
      <geometry>
        <mesh filename="gofa_arm/meshes/visual/link_1_from_STL.obj"/>
      </geometry>
      <material name="">
        <color rgba="1 1 0 1"/>
      </material>
    </visual>
  </link>
  <link name="gofa2_link_2">
    <!-- See note 1 in package.xml about the inertial and mass values -->
    <inertial>
      <mass value="4.2890416"/>
      <origin xyz="1.34018352211628E-06 -0.0500118376116071 0.222001399322246"/>
      <inertia ixx="0.130524729873898" ixy="1.31811857134115E-07" ixz="1.99022457670482E-06" iyy="0.133278449324229" iyz="-4.48622200366709E-07" izz="0.00669457974697178"/>
    </inertial>
    <collision name="collision">
      <geometry>
        <mesh filename="gofa_arm/meshes/collision/link_2_from_STL.obj"/>
      </geometry>
    </collision>
    <visual name="visual">
      <geometry>
        <mesh filename="gofa_arm/meshes/visual/link_2_from_STL.obj"/>
      </geometry>
      <material name="">
        <color rgba="1 1 0 1"/>
      </material>
    </visual>
  </link>
  <link name="gofa2_link_3">
    <!-- See note 1 in package.xml about the inertial and mass values -->
    <inertial>
      <mass value="3.38333107992875"/>
      <origin xyz="0.0128129281453599 0.0944171780907046 0.0247427540642403"/>
      <inertia ixx="0.0175626138728642" ixy="0.000364866179108744" ixz="-0.00318670290285352" iyy="0.0140230068919562" iyz="0.000704668055158407" izz="0.013275205067567"/>
    </inertial>
    <collision name="collision">
      <geometry>
        <mesh filename="gofa_arm/meshes/collision/link_3_from_STL.obj"/>
      </geometry>
    </collision>
    <visual name="visual">
      <geometry>
        <mesh filename="gofa_arm/meshes/visual/link_3_from_STL.obj"/>
      </geometry>
      <material name="">
        <color rgba="1 1 0 1"/>
      </material>
    </visual>
  </link>
  <link name="gofa2_link_4">
    <!-- See note 1 in package.xml about the inertial and mass values -->
    <inertial>
      <mass value="2.77857535641324"/>
      <origin xyz="0.160558561602322 0.041976811408979 -2.36623354021859E-07"/>
      <inertia ixx="0.00881683095901354" ixy="-0.010746260580237" ixz="1.2899930119841E-07" iyy="0.0340754175571832" iyz="3.96362791626429E-08" izz="0.0389358932156922"/>
    </inertial>
    <collision name="collision">
      <geometry>
        <mesh filename="gofa_arm/meshes/collision/link_4_from_STL.obj"/>
      </geometry>
    </collision>
    <visual name="visual">
      <geometry>
        <mesh filename="gofa_arm/meshes/visual/link_4_from_STL.obj"/>
      </geometry>
      <material name="">
        <color rgba="1 1 0 1"/>
      </material>
    </visual>
  </link>
  <link name="gofa2_link_5">
    <!-- See note 1 in package.xml about the inertial and mass values -->
    <inertial>
      <mass value="3.01105814739001"/>
      <origin xyz="-0.0147152361879962 -0.0785646469392633 0.0427558021601431"/>
      <inertia ixx="0.0114597336686444" ixy="0.000180094704361231" ixz="0.00165207280226761" iyy="0.013561904467501" iyz="-0.000525272443978826" izz="0.0108480119549914"/>
    </inertial>
    <collision name="collision">
      <geometry>
        <mesh filename="gofa_arm/meshes/collision/link_5_from_STL.obj"/>
      </geometry>
    </collision>
    <visual name="visual">
      <geometry>
        <mesh filename="gofa_arm/meshes/visual/link_5_from_STL.obj"/>
      </geometry>
      <material name="">
        <color rgba="1 1 0 1"/>
      </material>
    </visual>
  </link>
  <link name="gofa2_link_6">
    <!-- See note 1 in package.xml about the inertial and mass values -->
    <inertial>
      <mass value="0.146500988015653"/>
      <origin rpy="0 0 0" xyz="0.0137506852604966 0.000239804131398652 -0.000341962798940165"/>
      <inertia ixx="0.000128977630055306" ixy="-8.7622752508613E-08" ixz="1.18851551870012E-07" iyy="7.61118177829087E-05" iyz="-6.49821554399679E-07" izz="7.65022909768016E-05"/>
    </inertial>
    <!-- Meshlab calculated values (below) make gazebo crash when rotating this joint. -->
    <!-- <inertial>
        <mass value="0.00686711"/>
        <origin xyz="-0.00250976 -1.89e-06 0.00010218"/>
        <inertia ixx="1.3517e-06" ixy="-1.21316e-11" ixz="9.18065e-12" iyy="6.89813e-07" iyz="-1.21534e-10" izz="6.90097e-07"/>
      </inertial> -->
    <collision name="collision">
      <geometry>
        <mesh filename="gofa_arm/meshes/collision/link_6_from_STL.obj"/>
      </geometry>
    </collision>
    <visual name="visual">
      <geometry>
        <mesh filename="gofa_arm/meshes/visual/link_6_from_STL.obj"/>
      </geometry>
      <material name="">
        <color rgba="1 1 0 1"/>
      </material>
    </visual>
  </link>
  <!-- end of link list -->
  <!-- joint list -->
  <joint name="gofa2_joint_1" type="revolute">
    <origin rpy="0 0 0" xyz="0 0 0.1875"/>
    <axis xyz="0 0 1"/>
    <parent link="gofa2_base"/>
    <child link="gofa2_link_1"/>
    <!-- See note 2 in package.xml about effort limits and dynamics values -->
    <limit effort="1000" lower="-2.967" upper="2.967" velocity="5.027"/>
    <dynamics damping="50.0" friction="1.0"/>
  </joint>
  <joint name="gofa2_joint_2" type="revolute">
    <origin rpy="0 0 0" xyz="0 -0.085 0.0775"/>
    <axis xyz="0 1 0"/>
    <parent link="gofa2_link_1"/>
    <child link="gofa2_link_2"/>
    <!-- See note 2 in package.xml about effort limits and dynamics values -->
    <limit effort="1000" lower="-1.745" upper="2.269" velocity="4.189"/>
    <dynamics damping="50.0" friction="1.0"/>
  </joint>
  <joint name="gofa2_joint_3" type="revolute">
    <origin rpy="0 0 0" xyz="0 -0.00100000000000007 0.444"/>
    <axis xyz="0 1 0"/>
    <parent link="gofa2_link_2"/>
    <child link="gofa2_link_3"/>
    <!-- See note 2 in package.xml about effort limits and dynamics values -->
    <limit effort="1000" lower="-3.491" upper="1.222" velocity="5.236"/>
    <dynamics damping="10.0" friction="1.0"/>
  </joint>
  <joint name="gofa2_joint_4" type="revolute">
    <origin rpy="0 0 0" xyz="0.096 0.0860000000000001 0.11"/>
    <axis xyz="1 0 0"/>
    <parent link="gofa2_link_3"/>
    <child link="gofa2_link_4"/>
    <!-- See note 2 in package.xml about effort limits and dynamics values -->
    <limit effort="1000" lower="-4.712" upper="4.712" velocity="6.981"/>
    <dynamics damping="5.0" friction="1.0"/>
  </joint>
  <joint name="gofa2_joint_5" type="revolute">
    <origin rpy="0 0 0" xyz="0.374 0.0744999999999998 0"/>
    <axis xyz="0 1 0"/>
    <parent link="gofa2_link_4"/>
    <child link="gofa2_link_5"/>
    <!-- See note 2 in package.xml about effort limits and dynamics values -->
    <limit effort="1000" lower="-2.269" upper="2.269" velocity="7.069"/>
    <dynamics damping="2.0" friction="1.0"/>
  </joint>
  <joint name="gofa2_joint_6" type="revolute">
    <origin rpy="0 0 0" xyz="0.0679999999999995 -0.0744999999999998 0.0800000000000003"/>
    <axis xyz="1 0 0"/>
    <parent link="gofa2_link_5"/>
    <child link="gofa2_link_6"/>
    <!-- See note 2 in package.xml about effort limits and dynamics values -->
    <limit effort="1000" lower="-6.283" upper="6.283" velocity="10.472"/>
    <dynamics damping="1.0" friction="1.0"/>
  </joint>
  <!-- end of joint list -->
  <!-- gofa transmission list -->
  <!--added by LiWen on Apr 16 2025 -->
  <transmission name="gofa2_joint_1_transmission">
    <type>sr_mechanism_model/SimpleTransmission</type>
    <actuator name="gofa2_J1">
      <mechanicalReduction>1</mechanicalReduction>
    </actuator>
    <joint name="gofa2_joint_1">
      <hardwareInterface>EffortJointInterface</hardwareInterface>
      <hardwareInterface>PositionJointInterface</hardwareInterface>
    </joint>
  </transmission>
  <transmission name="gofa2_joint_2_transmission">
    <type>sr_mechanism_model/SimpleTransmission</type>
    <actuator name="gofa2_J2">
      <mechanicalReduction>1</mechanicalReduction>
    </actuator>
    <joint name="gofa2_joint_2">
      <hardwareInterface>EffortJointInterface</hardwareInterface>
      <hardwareInterface>PositionJointInterface</hardwareInterface>
    </joint>
  </transmission>
  <transmission name="gofa2_joint_3_transmission">
    <type>sr_mechanism_model/SimpleTransmission</type>
    <actuator name="gofa2_J3">
      <mechanicalReduction>1</mechanicalReduction>
    </actuator>
    <joint name="gofa2_joint_3">
      <hardwareInterface>EffortJointInterface</hardwareInterface>
      <hardwareInterface>PositionJointInterface</hardwareInterface>
    </joint>
  </transmission>
  <transmission name="gofa2_joint_4_transmission">
    <type>sr_mechanism_model/SimpleTransmission</type>
    <actuator name="gofa2_J4">
      <mechanicalReduction>1</mechanicalReduction>
    </actuator>
    <joint name="gofa2_joint_4">
      <hardwareInterface>EffortJointInterface</hardwareInterface>
      <hardwareInterface>PositionJointInterface</hardwareInterface>
    </joint>
  </transmission>
  <transmission name="gofa2_joint_5_transmission">
    <type>sr_mechanism_model/SimpleTransmission</type>
    <actuator name="gofa2_J5">
      <mechanicalReduction>1</mechanicalReduction>
    </actuator>
    <joint name="gofa2_joint_5">
      <hardwareInterface>EffortJointInterface</hardwareInterface>
      <hardwareInterface>PositionJointInterface</hardwareInterface>
    </joint>
  </transmission>
  <transmission name="gofa2_joint_6_transmission">
    <type>sr_mechanism_model/SimpleTransmission</type>
    <actuator name="gofa2_J6">
      <mechanicalReduction>1</mechanicalReduction>
    </actuator>
    <joint name="gofa2_joint_6">
      <hardwareInterface>EffortJointInterface</hardwareInterface>
      <hardwareInterface>PositionJointInterface</hardwareInterface>
    </joint>
  </transmission>
  <!-- end of gofa transmission list -->
  <!-- ROS-Industrial 'base' frame- base_link to ABB World Coordinates transform -->
  <link name="gofa2_base_link"/>
  <joint name="gofa2_base_link-base" type="fixed">
    <origin rpy="0 0 0" xyz="0 0 0"/>
    <parent link="gofa2_base_link"/>
    <child link="gofa2_base"/>
  </joint>
  <!-- ROS-Industrial 'tool0' frame- all-zeros tool frame -->
  <link name="gofa2_tool0"/>
  <joint name="gofa2_link_6-tool0" type="fixed">
    <origin rpy="0 1.5708 0" xyz="0.0326 0 0"/>
    <parent link="gofa2_link_6"/>
    <child link="gofa2_tool0"/>
  </joint>
  <joint name="rh_world_joint" type="fixed">
    <parent link="gofa2_tool0"/>
    <child link="rh_forearm"/>
    <origin rpy="0.0 0.0 3.14" xyz="0.0 0.0 0.007"/>
  </joint>
  <link name="rh_forearm">
    <inertial>
      <origin rpy="0 0 0" xyz="0 0 0.09"/>
      <mass value="3.0"/>
      <inertia ixx="0.0138" ixy="0.0" ixz="0.0" iyy="0.0138" iyz="0.0" izz="0.00744"/>
    </inertial>
    <visual>
      <origin rpy="0 0 0" xyz="0 0 0.0"/>
      <geometry name="rh_forearm_visual">
        <mesh filename="shadow_hand/meshes/forearm/forearm_E3M5_from_dae.obj" scale="0.001 0.001 0.001"/>
      </geometry>
      <material name="light_grey">
        <color rgba="0.90000 0.90000 0.90000 1.0"/>
      </material>
    </visual>
    <collision>
      <origin rpy="0 0 0" xyz="0 0 0.0"/>
      <geometry name="rh_forearm_collision">
        <mesh filename="shadow_hand/meshes/forearm/forearm_collision_E3M5_from_dae.obj" scale="0.001 0.001 0.001"/>
      </geometry>
    </collision>
    <!-- wrist mount -->
    <collision>
      <origin rpy="0 0.78 0" xyz="0 -0.01 0.181"/>
      <geometry>
        <box size="0.07 0.07 0.07"/>
      </geometry>
    </collision>
    <!-- TODO: Make a decision on whether to add the connector or not -->
    <!--visual>
        <origin rpy="0 -1.57 -1.57" xyz="0.0 0.067 0.0045"/>
        <geometry name="${prefix}cable_extr_visualisation">
          <mesh filename="file://$(find sr_description)/meshes/components/cable_connector/cable_connector_base_${hand_version}.dae" scale="0.001 0.001 0.001" />
        </geometry>
      </visual-->
  </link>
  <gazebo reference="rh_forearm">
    <selfCollide>false</selfCollide>
  </gazebo>
  <link name="rh_wrist">
    <inertial>
      <origin rpy="0 0 0" xyz="0 0 0.029"/>
      <mass value="0.1"/>
      <inertia ixx="0.000035" ixy="0.0" ixz="0.0" iyy="0.000064" iyz="0.0" izz="0.0000438"/>
    </inertial>
    <visual>
      <origin rpy="0 0 0" xyz="0 0 0"/>
      <geometry name="rh_wrist_visual">
        <mesh filename="shadow_hand/meshes/wrist/wrist_E3M5_from_dae.obj" scale="0.001 0.001 0.001"/>
      </geometry>
      <material name="LightGrey"/>
    </visual>
    <collision>
      <origin rpy="1.5708 1.5708 0" xyz="0 0 0"/>
      <geometry name="rh_wrist_collision_geom">
        <cylinder length="0.030" radius="0.0135"/>
      </geometry>
    </collision>
    <collision>
      <origin rpy="0 1.5708 0" xyz="-0.026 0 0.034"/>
      <geometry>
        <cylinder length="0.010" radius="0.011"/>
      </geometry>
    </collision>
    <collision>
      <origin rpy="0 1.5708 0" xyz="0.031 0 0.034"/>
      <geometry>
        <cylinder length="0.010" radius="0.011"/>
      </geometry>
    </collision>
    <collision>
      <origin rpy="0 0.7854 0" xyz="-0.021 0 0.011"/>
      <geometry>
        <box size="0.027 0.018 0.010"/>
      </geometry>
    </collision>
    <collision>
      <origin rpy="0 -0.7854 0" xyz="0.026 0 0.010"/>
      <geometry>
        <box size="0.027 0.018 0.010"/>
      </geometry>
    </collision>
  </link>
  <gazebo reference="rh_wrist">
    <material>Gazebo/White</material>
    <selfCollide>false</selfCollide>
  </gazebo>
  <joint name="rh_WRJ2" type="revolute">
    <parent link="rh_forearm"/>
    <child link="rh_wrist"/>
    <origin rpy="0 0 0" xyz="0 -0.010 0.21301"/>
    <axis xyz="0 1 0"/>
    <limit effort="10" lower="-0.5235987755982988" upper="0.17453292519943295" velocity="2.0"/>
    <dynamics damping="0.1"/>
  </joint>
  <gazebo reference="rh_WRJ2">
    <provideFeedback>1</provideFeedback>
    <implicitSpringDamper>1</implicitSpringDamper>
  </gazebo>
  <transmission name="rh_wrist_transmission">
    <type>sr_mechanism_model/SimpleTransmission</type>
    <actuator name="rh_WRJ2">
      <mechanicalReduction>1</mechanicalReduction>
    </actuator>
    <joint name="rh_WRJ2">
      <hardwareInterface>EffortJointInterface</hardwareInterface>
      <hardwareInterface>PositionJointInterface</hardwareInterface>
    </joint>
  </transmission>
  <link name="rh_palm">
    <inertial>
      <origin rpy="0 0 0" xyz="0 0 0.035"/>
      <mass value="0.3"/>
      <inertia ixx="0.0003581" ixy="0.0" ixz="0.0" iyy="0.0005287" iyz="0.0" izz="0.000191"/>
    </inertial>
    <visual>
      <origin rpy="0 0 0" xyz="0 0 0"/>
      <geometry name="rh_palm_visual">
        <mesh filename="shadow_hand/meshes/palm/palm_E3M5_from_dae.obj" scale="0.001 0.001 0.001"/>
      </geometry>
      <material name="Grey"/>
    </visual>
    <collision>
      <origin rpy="0 0 0" xyz="0.011 0.0085 0.038"/>
      <geometry name="rh_palm_collision_geom">
        <box size="0.062 0.007 0.098"/>
      </geometry>
    </collision>
    <collision>
      <origin rpy="0 0 0" xyz="-0.002 -0.0035 0.038"/>
      <geometry>
        <box size="0.036 0.017 0.098"/>
      </geometry>
    </collision>
    <!-- palm complement below first finger -->
    <collision>
      <origin rpy="0 0 0" xyz="0.029 -0.0035 0.082"/>
      <geometry>
        <box size="0.026 0.017 0.010"/>
      </geometry>
    </collision>
    <collision>
      <origin rpy="0.2 0 0.25" xyz="0.0265 -0.001 0.070"/>
      <geometry>
        <box size="0.026 0.014 0.018"/>
      </geometry>
    </collision>
    <!-- thumb pulp side -->
    <collision>
      <origin rpy="0 0 0" xyz="0.0315 -0.0085 0.001"/>
      <geometry>
        <box size="0.021 0.027 0.024"/>
      </geometry>
    </collision>
    <!-- thumb pulp central -->
    <collision>
      <origin rpy="0 0 -0.48" xyz="0.0125 -0.015 0.009"/>
      <geometry>
        <box size="0.022 0.005 0.040"/>
      </geometry>
    </collision>
    <!-- above middle finger-->
    <collision>
      <origin rpy="0 0 0" xyz="0.011 0 0.089"/>
      <geometry>
        <box size="0.018 0.024 0.004"/>
      </geometry>
    </collision>
    <!-- metacarpal side-->
    <collision>
      <origin rpy="0 0 0" xyz="-0.03 0 0.009"/>
      <geometry>
        <box size="0.020 0.024 0.040"/>
      </geometry>
    </collision>
  </link>
  <joint name="rh_ee_fixed_joint" type="fixed">
    <parent link="rh_palm"/>
    <child link="rh_manipulator"/>
    <origin rpy="0.0 0.0 0.0" xyz="0.0 0.0 0.05"/>
  </joint>
  <link name="rh_manipulator"/>
  <joint name="rh_WRJ1" type="revolute">
    <parent link="rh_wrist"/>
    <child link="rh_palm"/>
    <origin rpy="0 0 0" xyz="0 0 0.034"/>
    <axis xyz="1 0 0"/>
    <limit effort="30" lower="-0.6981317007977318" upper="0.4886921905584123" velocity="2.0"/>
    <dynamics damping="0.1"/>
  </joint>
  <gazebo reference="rh_WRJ1">
    <provideFeedback>1</provideFeedback>
    <implicitSpringDamper>1</implicitSpringDamper>
  </gazebo>
  <link name="rh_imu"/>
  <joint name="rh_palm_to_imu" type="fixed">
    <parent link="rh_palm"/>
    <child link="rh_imu"/>
    <origin rpy="-1.5707963 3.141592 0.0" xyz="0.01785 0.00765 0.049125"/>
  </joint>
  <transmission name="rh_palm_transmission">
    <type>sr_mechanism_model/SimpleTransmission</type>
    <actuator name="rh_WRJ1">
      <mechanicalReduction>1</mechanicalReduction>
    </actuator>
    <joint name="rh_WRJ1">
      <hardwareInterface>EffortJointInterface</hardwareInterface>
      <hardwareInterface>PositionJointInterface</hardwareInterface>
    </joint>
  </transmission>
  <gazebo reference="rh_palm">
  </gazebo>
  <link name="rh_ffknuckle">
    <inertial>
      <origin rpy="0 0 0" xyz="0 0 0"/>
      <mass value="0.008"/>
      <inertia ixx="0.00000026" ixy="0.0" ixz="0.0" iyy="0.00000026" iyz="0.0" izz="0.00000032"/>
    </inertial>
    <visual>
      <origin rpy="0 0 0" xyz="0 0 0.0005"/>
      <geometry name="rh_ffknuckle_visual">
        <mesh filename="shadow_hand/meshes/f_knuckle/f_knuckle_E3M5_from_dae.obj" scale="0.001 0.001 0.001"/>
      </geometry>
      <material name="LightGrey"/>
    </visual>
    <collision>
      <origin rpy="0 1.5708 0" xyz="0 0 0"/>
      <geometry name="rh_ffknuckle_collision_geom">
        <cylinder length="0.014" radius="0.007"/>
      </geometry>
    </collision>
  </link>
  <joint name="rh_FFJ4" type="revolute">
    <parent link="rh_palm"/>
    <child link="rh_ffknuckle"/>
    <!--<origin xyz="0.033 0 0.095" rpy="0 0 0" />-->
    <origin rpy="0 0 0" xyz="0.033 0 0.095"/>
    <axis xyz="0 -1 0"/>
    <limit effort="2" lower="-0.3490658503988659" upper="0.3490658503988659" velocity="2.0"/>
    <dynamics damping="0.1"/>
  </joint>
  <gazebo reference="rh_FFJ4">
    <provideFeedback>1</provideFeedback>
    <implicitSpringDamper>1</implicitSpringDamper>
  </gazebo>
  <transmission name="rh_ffknuckle_transmission">
    <type>sr_mechanism_model/SimpleTransmission</type>
    <actuator name="rh_FFJ4">
      <mechanicalReduction>1</mechanicalReduction>
    </actuator>
    <joint name="rh_FFJ4">
      <hardwareInterface>EffortJointInterface</hardwareInterface>
      <hardwareInterface>PositionJointInterface</hardwareInterface>
    </joint>
  </transmission>
  <gazebo reference="rh_ffknuckle">
    <!-- knuckle is not highly exposed, so bumper is not useful -->
    <material>Gazebo/Grey</material>
  </gazebo>
  <link name="rh_ffproximal">
    <inertial>
      <mass value="0.030"/>
      <origin xyz="0 0 0.0225"/>
      <inertia ixx="0.0000098" ixy="0.0" ixz="0.0" iyy="0.00001" iyz="0.0" izz="0.0000018"/>
    </inertial>
    <visual>
      <origin rpy="0 0 0" xyz="0 0 0"/>
      <geometry name="rh_ffproximal_visual">
        <mesh filename="shadow_hand/meshes/f_proximal/f_proximal_E3M5_from_dae.obj" scale="0.001 0.001 0.001"/>
      </geometry>
      <material name="Grey"/>
    </visual>
    <collision>
      <origin rpy="0 0 0" xyz="0 0 0.025"/>
      <geometry name="rh_ffproximal_collision_geom">
        <cylinder length="0.040" radius="0.007"/>
      </geometry>
    </collision>
  </link>
  <joint name="rh_FFJ3" type="revolute">
    <parent link="rh_ffknuckle"/>
    <child link="rh_ffproximal"/>
    <origin rpy="0 0 0" xyz="0 0 0"/>
    <axis xyz="1 0 0"/>
    <limit effort="2" lower="-0.2617993877991494" upper="1.5707963267948966" velocity="2.0"/>
    <dynamics damping="0.1"/>
  </joint>
  <gazebo reference="rh_FFJ3">
    <provideFeedback>1</provideFeedback>
    <implicitSpringDamper>1</implicitSpringDamper>
  </gazebo>
  <transmission name="rh_ffproximal_transmission">
    <type>sr_mechanism_model/SimpleTransmission</type>
    <actuator name="rh_FFJ3">
      <mechanicalReduction>1</mechanicalReduction>
    </actuator>
    <joint name="rh_FFJ3">
      <hardwareInterface>EffortJointInterface</hardwareInterface>
      <hardwareInterface>PositionJointInterface</hardwareInterface>
    </joint>
  </transmission>
  <gazebo reference="rh_ffproximal">
    <selfCollide>true</selfCollide>
  </gazebo>
  <link name="rh_ffmiddle">
    <inertial>
      <origin rpy="0 0 0" xyz="0 0 0.0125"/>
      <mass value="0.017"/>
      <inertia ixx="0.0000026" ixy="0.0" ixz="0.0" iyy="0.0000027" iyz="0.0" izz="0.00000087"/>
    </inertial>
    <visual>
      <origin rpy="0 0 0" xyz="0 0 0"/>
      <geometry name="rh_ffmiddle_visual">
        <mesh filename="shadow_hand/meshes/f_middle/f_middle_E3M5_from_dae.obj" scale="0.001 0.001 0.001"/>
      </geometry>
      <material name="Grey"/>
    </visual>
    <collision>
      <origin rpy="0 0 0" xyz="0 0 0.0125"/>
      <geometry name="rh_ffmiddle_collision_geom">
        <cylinder length="0.025" radius="0.007"/>
      </geometry>
    </collision>
    <collision>
      <origin rpy="0 0 0" xyz="0 0 0.0"/>
      <geometry>
        <sphere radius="0.007"/>
      </geometry>
    </collision>
    <collision>
      <origin rpy="0 0 0" xyz="0 0 0.025"/>
      <geometry>
        <sphere radius="0.007"/>
      </geometry>
    </collision>
  </link>
  <joint name="rh_FFJ2" type="revolute">
    <parent link="rh_ffproximal"/>
    <child link="rh_ffmiddle"/>
    <origin rpy="0 0 0" xyz="0 0 0.045"/>
    <axis xyz="1 0 0"/>
    <limit effort="2" lower="0" upper="1.5707963267948966" velocity="2.0"/>
    <dynamics damping="0.1"/>
  </joint>
  <gazebo reference="rh_FFJ2">
    <provideFeedback>1</provideFeedback>
    <implicitSpringDamper>1</implicitSpringDamper>
  </gazebo>
  <transmission name="rh_ffmiddle_transmission">
    <type>sr_mechanism_model/SimpleTransmission</type>
    <actuator name="rh_FFJ2">
      <mechanicalReduction>1</mechanicalReduction>
    </actuator>
    <joint name="rh_FFJ2">
      <hardwareInterface>EffortJointInterface</hardwareInterface>
      <hardwareInterface>PositionJointInterface</hardwareInterface>
    </joint>
  </transmission>
  <gazebo reference="rh_ffmiddle">
    <selfCollide>true</selfCollide>
  </gazebo>
  <link name="rh_ffdistal">
    <inertial>
      <mass value="0.012"/>
      <origin xyz="0 0 0.012"/>
      <inertia ixx="0.00000094" ixy="0.0" ixz="0.0" iyy="0.0000011" iyz="0.0" izz="0.00000053"/>
    </inertial>
    <visual>
      <origin rpy="0 0 0" xyz="0 0 0"/>
      <geometry name="rh_ffdistal_visual">
        <mesh filename="shadow_hand/meshes/f_distal/bt_sp/f_distal_bt_sp_from_dae.obj" scale="0.001 0.001 0.001"/>
      </geometry>
    </visual>
    <collision>
      <origin rpy="0 0 0" xyz="0 0 0"/>
      <geometry name="rh_ffdistal_collision_geom">
        <mesh filename="shadow_hand/meshes/f_distal/bt_sp/f_distal_bt_sp_from_dae.obj" scale="0.001 0.001 0.001"/>
      </geometry>
    </collision>
  </link>
  <joint name="rh_FFJ1" type="revolute">
    <parent link="rh_ffmiddle"/>
    <child link="rh_ffdistal"/>
    <origin rpy="0 0 0" xyz="0 0 0.025"/>
    <axis xyz="1 0 0"/>
    <!-- standard distal joint -->
    <limit effort="2" lower="0" upper="1.5707963267948966" velocity="2.0"/>
    <dynamics damping="0.1"/>
  </joint>
  <gazebo reference="rh_FFJ1">
    <provideFeedback>1</provideFeedback>
    <implicitSpringDamper>1</implicitSpringDamper>
  </gazebo>
  <link name="rh_fftip">
    <inertial>
      <mass value="0.001"/>
      <inertia ixx="0.0" ixy="0.0" ixz="0.0" iyy="0.0" iyz="0.0" izz="0.0"/>
    </inertial>
  </link>
  <joint name="rh_FFtip" type="fixed">
    <parent link="rh_ffdistal"/>
    <child link="rh_fftip"/>
    <origin rpy="0 0 0" xyz="0 0 0.026"/>
  </joint>
  <gazebo reference="rh_ffdistal">
    <sensor name="rh_ffdistal_contact" type="contact">
      <always_on>1</always_on>
      <update_rate>1000.0</update_rate>
      <contact>
        <collision>rh_ffdistal_collision</collision>
        <topic>rh_ffdistal_collision</topic>
      </contact>
      <plugin filename="libgazebo_ros_bumper.so" name="rh_ffdistal_gazebo_ros_bumper_controller">
        <alwaysOn>true</alwaysOn>
        <frameName>rh_ffdistal</frameName>
        <updateRate>100.0</updateRate>
        <bumperTopicName>contacts/rh_ff/distal</bumperTopicName>
      </plugin>
    </sensor>
    <mu1 value="500.0"/>
    <mu2 value="500.0"/>
    <kp value="10000000.0"/>
    <kd value="1.0"/>
    <selfCollide>true</selfCollide>
  </gazebo>
  <transmission name="rh_ffdistal_transmission">
    <type>sr_mechanism_model/SimpleTransmission</type>
    <actuator name="rh_FFJ1">
      <mechanicalReduction>1</mechanicalReduction>
    </actuator>
    <joint name="rh_FFJ1">
      <hardwareInterface>EffortJointInterface</hardwareInterface>
      <hardwareInterface>PositionJointInterface</hardwareInterface>
    </joint>
  </transmission>
  <!--added by LiWen on Apr 17 2025 -->
  <link name="rh_mfknuckle">
    <inertial>
      <origin rpy="0 0 0" xyz="0 0 0"/>
      <mass value="0.008"/>
      <inertia ixx="0.00000026" ixy="0.0" ixz="0.0" iyy="0.00000026" iyz="0.0" izz="0.00000032"/>
    </inertial>
    <visual>
      <origin rpy="0 0 0" xyz="0 0 0.0005"/>
      <geometry name="rh_mfknuckle_visual">
        <mesh filename="shadow_hand/meshes/f_knuckle/f_knuckle_E3M5_from_dae.obj" scale="0.001 0.001 0.001"/>
      </geometry>
      <material name="LightGrey"/>
    </visual>
    <collision>
      <origin rpy="0 1.5708 0" xyz="0 0 0"/>
      <geometry name="rh_mfknuckle_collision_geom">
        <cylinder length="0.014" radius="0.007"/>
      </geometry>
    </collision>
  </link>
  <joint name="rh_MFJ4" type="revolute">
    <parent link="rh_palm"/>
    <child link="rh_mfknuckle"/>
    <!--<origin xyz="0.033 0 0.095" rpy="0 0 0" />-->
    <origin rpy="0 0 0" xyz="0.011 0 0.099"/>
    <axis xyz="0 -1 0"/>
    <limit effort="2" lower="-0.3490658503988659" upper="0.3490658503988659" velocity="2.0"/>
    <dynamics damping="0.1"/>
  </joint>
  <gazebo reference="rh_MFJ4">
    <provideFeedback>1</provideFeedback>
    <implicitSpringDamper>1</implicitSpringDamper>
  </gazebo>
  <transmission name="rh_mfknuckle_transmission">
    <type>sr_mechanism_model/SimpleTransmission</type>
    <actuator name="rh_MFJ4">
      <mechanicalReduction>1</mechanicalReduction>
    </actuator>
    <joint name="rh_MFJ4">
      <hardwareInterface>EffortJointInterface</hardwareInterface>
      <hardwareInterface>PositionJointInterface</hardwareInterface>
    </joint>
  </transmission>
  <gazebo reference="rh_mfknuckle">
    <!-- knuckle is not highly exposed, so bumper is not useful -->
    <material>Gazebo/Grey</material>
  </gazebo>
  <link name="rh_mfproximal">
    <inertial>
      <mass value="0.030"/>
      <origin xyz="0 0 0.0225"/>
      <inertia ixx="0.0000098" ixy="0.0" ixz="0.0" iyy="0.00001" iyz="0.0" izz="0.0000018"/>
    </inertial>
    <visual>
      <origin rpy="0 0 0" xyz="0 0 0"/>
      <geometry name="rh_mfproximal_visual">
        <mesh filename="shadow_hand/meshes/f_proximal/f_proximal_E3M5_from_dae.obj" scale="0.001 0.001 0.001"/>
      </geometry>
      <material name="Grey"/>
    </visual>
    <collision>
      <origin rpy="0 0 0" xyz="0 0 0.025"/>
      <geometry name="rh_mfproximal_collision_geom">
        <cylinder length="0.040" radius="0.007"/>
      </geometry>
    </collision>
  </link>
  <joint name="rh_MFJ3" type="revolute">
    <parent link="rh_mfknuckle"/>
    <child link="rh_mfproximal"/>
    <origin rpy="0 0 0" xyz="0 0 0"/>
    <axis xyz="1 0 0"/>
    <limit effort="2" lower="-0.2617993877991494" upper="1.5707963267948966" velocity="2.0"/>
    <dynamics damping="0.1"/>
  </joint>
  <gazebo reference="rh_MFJ3">
    <provideFeedback>1</provideFeedback>
    <implicitSpringDamper>1</implicitSpringDamper>
  </gazebo>
  <transmission name="rh_mfproximal_transmission">
    <type>sr_mechanism_model/SimpleTransmission</type>
    <actuator name="rh_MFJ3">
      <mechanicalReduction>1</mechanicalReduction>
    </actuator>
    <joint name="rh_MFJ3">
      <hardwareInterface>EffortJointInterface</hardwareInterface>
      <hardwareInterface>PositionJointInterface</hardwareInterface>
    </joint>
  </transmission>
  <gazebo reference="rh_mfproximal">
    <selfCollide>true</selfCollide>
  </gazebo>
  <link name="rh_mfmiddle">
    <inertial>
      <origin rpy="0 0 0" xyz="0 0 0.0125"/>
      <mass value="0.017"/>
      <inertia ixx="0.0000026" ixy="0.0" ixz="0.0" iyy="0.0000027" iyz="0.0" izz="0.00000087"/>
    </inertial>
    <visual>
      <origin rpy="0 0 0" xyz="0 0 0"/>
      <geometry name="rh_mfmiddle_visual">
        <mesh filename="shadow_hand/meshes/f_middle/f_middle_E3M5_from_dae.obj" scale="0.001 0.001 0.001"/>
      </geometry>
      <material name="Grey"/>
    </visual>
    <collision>
      <origin rpy="0 0 0" xyz="0 0 0.0125"/>
      <geometry name="rh_mfmiddle_collision_geom">
        <cylinder length="0.025" radius="0.007"/>
      </geometry>
    </collision>
    <collision>
      <origin rpy="0 0 0" xyz="0 0 0.0"/>
      <geometry>
        <sphere radius="0.007"/>
      </geometry>
    </collision>
    <collision>
      <origin rpy="0 0 0" xyz="0 0 0.025"/>
      <geometry>
        <sphere radius="0.007"/>
      </geometry>
    </collision>
  </link>
  <joint name="rh_MFJ2" type="revolute">
    <parent link="rh_mfproximal"/>
    <child link="rh_mfmiddle"/>
    <origin rpy="0 0 0" xyz="0 0 0.045"/>
    <axis xyz="1 0 0"/>
    <limit effort="2" lower="0" upper="1.5707963267948966" velocity="2.0"/>
    <dynamics damping="0.1"/>
  </joint>
  <gazebo reference="rh_MFJ2">
    <provideFeedback>1</provideFeedback>
    <implicitSpringDamper>1</implicitSpringDamper>
  </gazebo>
  <transmission name="rh_mfmiddle_transmission">
    <type>sr_mechanism_model/SimpleTransmission</type>
    <actuator name="rh_MFJ2">
      <mechanicalReduction>1</mechanicalReduction>
    </actuator>
    <joint name="rh_MFJ2">
      <hardwareInterface>EffortJointInterface</hardwareInterface>
      <hardwareInterface>PositionJointInterface</hardwareInterface>
    </joint>
  </transmission>
  <gazebo reference="rh_mfmiddle">
    <selfCollide>true</selfCollide>
  </gazebo>
  <link name="rh_mfdistal">
    <inertial>
      <mass value="0.012"/>
      <origin xyz="0 0 0.012"/>
      <inertia ixx="0.00000094" ixy="0.0" ixz="0.0" iyy="0.0000011" iyz="0.0" izz="0.00000053"/>
    </inertial>
    <visual>
      <origin rpy="0 0 0" xyz="0 0 0"/>
      <geometry name="rh_mfdistal_visual">
        <mesh filename="shadow_hand/meshes/f_distal/bt_sp/f_distal_bt_sp_from_dae.obj" scale="0.001 0.001 0.001"/>
      </geometry>
    </visual>
    <collision>
      <origin rpy="0 0 0" xyz="0 0 0"/>
      <geometry name="rh_mfdistal_collision_geom">
        <mesh filename="shadow_hand/meshes/f_distal/bt_sp/f_distal_bt_sp_from_dae.obj" scale="0.001 0.001 0.001"/>
      </geometry>
    </collision>
  </link>
  <joint name="rh_MFJ1" type="revolute">
    <parent link="rh_mfmiddle"/>
    <child link="rh_mfdistal"/>
    <origin rpy="0 0 0" xyz="0 0 0.025"/>
    <axis xyz="1 0 0"/>
    <!-- standard distal joint -->
    <limit effort="2" lower="0" upper="1.5707963267948966" velocity="2.0"/>
    <dynamics damping="0.1"/>
  </joint>
  <gazebo reference="rh_MFJ1">
    <provideFeedback>1</provideFeedback>
    <implicitSpringDamper>1</implicitSpringDamper>
  </gazebo>
  <link name="rh_mftip">
    <inertial>
      <mass value="0.001"/>
      <inertia ixx="0.0" ixy="0.0" ixz="0.0" iyy="0.0" iyz="0.0" izz="0.0"/>
    </inertial>
  </link>
  <joint name="rh_MFtip" type="fixed">
    <parent link="rh_mfdistal"/>
    <child link="rh_mftip"/>
    <origin rpy="0 0 0" xyz="0 0 0.026"/>
  </joint>
  <gazebo reference="rh_mfdistal">
    <sensor name="rh_mfdistal_contact" type="contact">
      <always_on>1</always_on>
      <update_rate>1000.0</update_rate>
      <contact>
        <collision>rh_mfdistal_collision</collision>
        <topic>rh_mfdistal_collision</topic>
      </contact>
      <plugin filename="libgazebo_ros_bumper.so" name="rh_mfdistal_gazebo_ros_bumper_controller">
        <alwaysOn>true</alwaysOn>
        <frameName>rh_mfdistal</frameName>
        <updateRate>100.0</updateRate>
        <bumperTopicName>contacts/rh_mf/distal</bumperTopicName>
      </plugin>
    </sensor>
    <mu1 value="500.0"/>
    <mu2 value="500.0"/>
    <kp value="10000000.0"/>
    <kd value="1.0"/>
    <selfCollide>true</selfCollide>
  </gazebo>
  <transmission name="rh_mfdistal_transmission">
    <type>sr_mechanism_model/SimpleTransmission</type>
    <actuator name="rh_MFJ1">
      <mechanicalReduction>1</mechanicalReduction>
    </actuator>
    <joint name="rh_MFJ1">
      <hardwareInterface>EffortJointInterface</hardwareInterface>
      <hardwareInterface>PositionJointInterface</hardwareInterface>
    </joint>
  </transmission>
  <!--added by LiWen on Apr 17 2025 -->
  <link name="rh_rfknuckle">
    <inertial>
      <origin rpy="0 0 0" xyz="0 0 0"/>
      <mass value="0.008"/>
      <inertia ixx="0.00000026" ixy="0.0" ixz="0.0" iyy="0.00000026" iyz="0.0" izz="0.00000032"/>
    </inertial>
    <visual>
      <origin rpy="0 0 0" xyz="0 0 0.0005"/>
      <geometry name="rh_rfknuckle_visual">
        <mesh filename="shadow_hand/meshes/f_knuckle/f_knuckle_E3M5_from_dae.obj" scale="0.001 0.001 0.001"/>
      </geometry>
      <material name="LightGrey"/>
    </visual>
    <collision>
      <origin rpy="0 1.5708 0" xyz="0 0 0"/>
      <geometry name="rh_rfknuckle_collision_geom">
        <cylinder length="0.014" radius="0.007"/>
      </geometry>
    </collision>
  </link>
  <joint name="rh_RFJ4" type="revolute">
    <parent link="rh_palm"/>
    <child link="rh_rfknuckle"/>
    <!--<origin xyz="0.033 0 0.095" rpy="0 0 0" />-->
    <origin rpy="0 0 0" xyz="-0.011 0 0.095"/>
    <axis xyz="0 1 0"/>
    <limit effort="2" lower="-0.3490658503988659" upper="0.3490658503988659" velocity="2.0"/>
    <dynamics damping="0.1"/>
  </joint>
  <gazebo reference="rh_RFJ4">
    <provideFeedback>1</provideFeedback>
    <implicitSpringDamper>1</implicitSpringDamper>
  </gazebo>
  <transmission name="rh_rfknuckle_transmission">
    <type>sr_mechanism_model/SimpleTransmission</type>
    <actuator name="rh_RFJ4">
      <mechanicalReduction>1</mechanicalReduction>
    </actuator>
    <joint name="rh_RFJ4">
      <hardwareInterface>EffortJointInterface</hardwareInterface>
      <hardwareInterface>PositionJointInterface</hardwareInterface>
    </joint>
  </transmission>
  <gazebo reference="rh_rfknuckle">
    <!-- knuckle is not highly exposed, so bumper is not useful -->
    <material>Gazebo/Grey</material>
  </gazebo>
  <link name="rh_rfproximal">
    <inertial>
      <mass value="0.030"/>
      <origin xyz="0 0 0.0225"/>
      <inertia ixx="0.0000098" ixy="0.0" ixz="0.0" iyy="0.00001" iyz="0.0" izz="0.0000018"/>
    </inertial>
    <visual>
      <origin rpy="0 0 0" xyz="0 0 0"/>
      <geometry name="rh_rfproximal_visual">
        <mesh filename="shadow_hand/meshes/f_proximal/f_proximal_E3M5_from_dae.obj" scale="0.001 0.001 0.001"/>
      </geometry>
      <material name="Grey"/>
    </visual>
    <collision>
      <origin rpy="0 0 0" xyz="0 0 0.025"/>
      <geometry name="rh_rfproximal_collision_geom">
        <cylinder length="0.040" radius="0.007"/>
      </geometry>
    </collision>
  </link>
  <joint name="rh_RFJ3" type="revolute">
    <parent link="rh_rfknuckle"/>
    <child link="rh_rfproximal"/>
    <origin rpy="0 0 0" xyz="0 0 0"/>
    <axis xyz="1 0 0"/>
    <limit effort="2" lower="-0.2617993877991494" upper="1.5707963267948966" velocity="2.0"/>
    <dynamics damping="0.1"/>
  </joint>
  <gazebo reference="rh_RFJ3">
    <provideFeedback>1</provideFeedback>
    <implicitSpringDamper>1</implicitSpringDamper>
  </gazebo>
  <transmission name="rh_rfproximal_transmission">
    <type>sr_mechanism_model/SimpleTransmission</type>
    <actuator name="rh_RFJ3">
      <mechanicalReduction>1</mechanicalReduction>
    </actuator>
    <joint name="rh_RFJ3">
      <hardwareInterface>EffortJointInterface</hardwareInterface>
      <hardwareInterface>PositionJointInterface</hardwareInterface>
    </joint>
  </transmission>
  <gazebo reference="rh_rfproximal">
    <selfCollide>true</selfCollide>
  </gazebo>
  <link name="rh_rfmiddle">
    <inertial>
      <origin rpy="0 0 0" xyz="0 0 0.0125"/>
      <mass value="0.017"/>
      <inertia ixx="0.0000026" ixy="0.0" ixz="0.0" iyy="0.0000027" iyz="0.0" izz="0.00000087"/>
    </inertial>
    <visual>
      <origin rpy="0 0 0" xyz="0 0 0"/>
      <geometry name="rh_rfmiddle_visual">
        <mesh filename="shadow_hand/meshes/f_middle/f_middle_E3M5_from_dae.obj" scale="0.001 0.001 0.001"/>
      </geometry>
      <material name="Grey"/>
    </visual>
    <collision>
      <origin rpy="0 0 0" xyz="0 0 0.0125"/>
      <geometry name="rh_rfmiddle_collision_geom">
        <cylinder length="0.025" radius="0.007"/>
      </geometry>
    </collision>
    <collision>
      <origin rpy="0 0 0" xyz="0 0 0.0"/>
      <geometry>
        <sphere radius="0.007"/>
      </geometry>
    </collision>
    <collision>
      <origin rpy="0 0 0" xyz="0 0 0.025"/>
      <geometry>
        <sphere radius="0.007"/>
      </geometry>
    </collision>
  </link>
  <joint name="rh_RFJ2" type="revolute">
    <parent link="rh_rfproximal"/>
    <child link="rh_rfmiddle"/>
    <origin rpy="0 0 0" xyz="0 0 0.045"/>
    <axis xyz="1 0 0"/>
    <limit effort="2" lower="0" upper="1.5707963267948966" velocity="2.0"/>
    <dynamics damping="0.1"/>
  </joint>
  <gazebo reference="rh_RFJ2">
    <provideFeedback>1</provideFeedback>
    <implicitSpringDamper>1</implicitSpringDamper>
  </gazebo>
  <transmission name="rh_rfmiddle_transmission">
    <type>sr_mechanism_model/SimpleTransmission</type>
    <actuator name="rh_RFJ2">
      <mechanicalReduction>1</mechanicalReduction>
    </actuator>
    <joint name="rh_RFJ2">
      <hardwareInterface>EffortJointInterface</hardwareInterface>
      <hardwareInterface>PositionJointInterface</hardwareInterface>
    </joint>
  </transmission>
  <gazebo reference="rh_rfmiddle">
    <selfCollide>true</selfCollide>
  </gazebo>
  <link name="rh_rfdistal">
    <inertial>
      <mass value="0.012"/>
      <origin xyz="0 0 0.012"/>
      <inertia ixx="0.00000094" ixy="0.0" ixz="0.0" iyy="0.0000011" iyz="0.0" izz="0.00000053"/>
    </inertial>
    <visual>
      <origin rpy="0 0 0" xyz="0 0 0"/>
      <geometry name="rh_rfdistal_visual">
        <mesh filename="shadow_hand/meshes/f_distal/bt_sp/f_distal_bt_sp_from_dae.obj" scale="0.001 0.001 0.001"/>
      </geometry>
    </visual>
    <collision>
      <origin rpy="0 0 0" xyz="0 0 0"/>
      <geometry name="rh_rfdistal_collision_geom">
        <mesh filename="shadow_hand/meshes/f_distal/bt_sp/f_distal_bt_sp_from_dae.obj" scale="0.001 0.001 0.001"/>
      </geometry>
    </collision>
  </link>
  <joint name="rh_RFJ1" type="revolute">
    <parent link="rh_rfmiddle"/>
    <child link="rh_rfdistal"/>
    <origin rpy="0 0 0" xyz="0 0 0.025"/>
    <axis xyz="1 0 0"/>
    <!-- standard distal joint -->
    <limit effort="2" lower="0" upper="1.5707963267948966" velocity="2.0"/>
    <dynamics damping="0.1"/>
  </joint>
  <gazebo reference="rh_RFJ1">
    <provideFeedback>1</provideFeedback>
    <implicitSpringDamper>1</implicitSpringDamper>
  </gazebo>
  <link name="rh_rftip">
    <inertial>
      <mass value="0.001"/>
      <inertia ixx="0.0" ixy="0.0" ixz="0.0" iyy="0.0" iyz="0.0" izz="0.0"/>
    </inertial>
  </link>
  <joint name="rh_RFtip" type="fixed">
    <parent link="rh_rfdistal"/>
    <child link="rh_rftip"/>
    <origin rpy="0 0 0" xyz="0 0 0.026"/>
  </joint>
  <gazebo reference="rh_rfdistal">
    <sensor name="rh_rfdistal_contact" type="contact">
      <always_on>1</always_on>
      <update_rate>1000.0</update_rate>
      <contact>
        <collision>rh_rfdistal_collision</collision>
        <topic>rh_rfdistal_collision</topic>
      </contact>
      <plugin filename="libgazebo_ros_bumper.so" name="rh_rfdistal_gazebo_ros_bumper_controller">
        <alwaysOn>true</alwaysOn>
        <frameName>rh_rfdistal</frameName>
        <updateRate>100.0</updateRate>
        <bumperTopicName>contacts/rh_rf/distal</bumperTopicName>
      </plugin>
    </sensor>
    <mu1 value="500.0"/>
    <mu2 value="500.0"/>
    <kp value="10000000.0"/>
    <kd value="1.0"/>
    <selfCollide>true</selfCollide>
  </gazebo>
  <transmission name="rh_rfdistal_transmission">
    <type>sr_mechanism_model/SimpleTransmission</type>
    <actuator name="rh_RFJ1">
      <mechanicalReduction>1</mechanicalReduction>
    </actuator>
    <joint name="rh_RFJ1">
      <hardwareInterface>EffortJointInterface</hardwareInterface>
      <hardwareInterface>PositionJointInterface</hardwareInterface>
    </joint>
  </transmission>
  <!--added by LiWen on Apr 17 2025 -->
  <link name="rh_lfmetacarpal">
    <inertial>
      <origin rpy="0 0.9599 0" xyz="0.03174867647058824 0 0.02235294117647059"/>
      <mass value="0.030"/>
      <inertia ixx="0.0000145" ixy="0.0" ixz="0.0" iyy="0.00001638" iyz="0.0" izz="0.000004272"/>
    </inertial>
    <visual>
      <origin rpy="0 0.9599 0" xyz="0 0 0"/>
      <geometry name="rh_lfmetacarpal_visual">
        <mesh filename="shadow_hand/meshes/lf_metacarpal/lf_metacarpal_E3M5_from_dae.obj" scale="0.001 0.001 0.001"/>
      </geometry>
      <material name="Grey"/>
    </visual>
    <collision>
      <origin rpy="0 0.9599 0" xyz="0.026986375 0 0.019"/>
      <geometry name="rh_lfmetacarpal_collision_geom">
        <box size="0.018 0.024 0.040"/>
      </geometry>
    </collision>
  </link>
  <joint name="rh_LFJ5" type="revolute">
    <parent link="rh_palm"/>
    <child link="rh_lfmetacarpal"/>
    <origin rpy="0 -0.9599 0" xyz="-0.033 0 0.02071"/>
    <axis xyz="1 0 0"/>
    <limit effort="2" lower="0" upper="0.7853981633974483" velocity="2.0"/>
    <dynamics damping="0.1"/>
  </joint>
  <gazebo reference="rh_LFJ5">
    <provideFeedback>1</provideFeedback>
    <implicitSpringDamper>1</implicitSpringDamper>
  </gazebo>
  <transmission name="rh_lfmetacarpal_transmission">
    <type>sr_mechanism_model/SimpleTransmission</type>
    <actuator name="rh_LFJ5">
      <mechanicalReduction>1</mechanicalReduction>
    </actuator>
    <joint name="rh_LFJ5">
      <hardwareInterface>EffortJointInterface</hardwareInterface>
      <hardwareInterface>PositionJointInterface</hardwareInterface>
    </joint>
  </transmission>
  <gazebo reference="rh_lfmetacarpal">
    <selfCollide>true</selfCollide>
  </gazebo>
  <link name="rh_lfknuckle">
    <inertial>
      <origin rpy="0 0 0" xyz="0 0 0"/>
      <mass value="0.008"/>
      <inertia ixx="0.00000026" ixy="0.0" ixz="0.0" iyy="0.00000026" iyz="0.0" izz="0.00000032"/>
    </inertial>
    <visual>
      <origin rpy="0 0 0" xyz="0 0 0.0005"/>
      <geometry name="rh_lfknuckle_visual">
        <mesh filename="shadow_hand/meshes/f_knuckle/f_knuckle_E3M5_from_dae.obj" scale="0.001 0.001 0.001"/>
      </geometry>
      <material name="LightGrey"/>
    </visual>
    <collision>
      <origin rpy="0 1.5708 0" xyz="0 0 0"/>
      <geometry name="rh_lfknuckle_collision_geom">
        <cylinder length="0.014" radius="0.007"/>
      </geometry>
    </collision>
  </link>
  <joint name="rh_LFJ4" type="revolute">
    <parent link="rh_lfmetacarpal"/>
    <child link="rh_lfknuckle"/>
    <!--<origin xyz="0.033 0 0.095" rpy="0 0 0" />-->
    <origin rpy="0 0.9599 0" xyz="0.05397275 0 0.03779463"/>
    <axis xyz="0 1 0"/>
    <limit effort="2" lower="-0.3490658503988659" upper="0.3490658503988659" velocity="2.0"/>
    <dynamics damping="0.1"/>
  </joint>
  <gazebo reference="rh_LFJ4">
    <provideFeedback>1</provideFeedback>
    <implicitSpringDamper>1</implicitSpringDamper>
  </gazebo>
  <transmission name="rh_lfknuckle_transmission">
    <type>sr_mechanism_model/SimpleTransmission</type>
    <actuator name="rh_LFJ4">
      <mechanicalReduction>1</mechanicalReduction>
    </actuator>
    <joint name="rh_LFJ4">
      <hardwareInterface>EffortJointInterface</hardwareInterface>
      <hardwareInterface>PositionJointInterface</hardwareInterface>
    </joint>
  </transmission>
  <gazebo reference="rh_lfknuckle">
    <!-- knuckle is not highly exposed, so bumper is not useful -->
    <material>Gazebo/Grey</material>
  </gazebo>
  <link name="rh_lfproximal">
    <inertial>
      <mass value="0.030"/>
      <origin xyz="0 0 0.0225"/>
      <inertia ixx="0.0000098" ixy="0.0" ixz="0.0" iyy="0.00001" iyz="0.0" izz="0.0000018"/>
    </inertial>
    <visual>
      <origin rpy="0 0 0" xyz="0 0 0"/>
      <geometry name="rh_lfproximal_visual">
        <mesh filename="shadow_hand/meshes/f_proximal/f_proximal_E3M5_from_dae.obj" scale="0.001 0.001 0.001"/>
      </geometry>
      <material name="Grey"/>
    </visual>
    <collision>
      <origin rpy="0 0 0" xyz="0 0 0.025"/>
      <geometry name="rh_lfproximal_collision_geom">
        <cylinder length="0.040" radius="0.007"/>
      </geometry>
    </collision>
  </link>
  <joint name="rh_LFJ3" type="revolute">
    <parent link="rh_lfknuckle"/>
    <child link="rh_lfproximal"/>
    <origin rpy="0 0 0" xyz="0 0 0"/>
    <axis xyz="1 0 0"/>
    <limit effort="2" lower="-0.2617993877991494" upper="1.5707963267948966" velocity="2.0"/>
    <dynamics damping="0.1"/>
  </joint>
  <gazebo reference="rh_LFJ3">
    <provideFeedback>1</provideFeedback>
    <implicitSpringDamper>1</implicitSpringDamper>
  </gazebo>
  <transmission name="rh_lfproximal_transmission">
    <type>sr_mechanism_model/SimpleTransmission</type>
    <actuator name="rh_LFJ3">
      <mechanicalReduction>1</mechanicalReduction>
    </actuator>
    <joint name="rh_LFJ3">
      <hardwareInterface>EffortJointInterface</hardwareInterface>
      <hardwareInterface>PositionJointInterface</hardwareInterface>
    </joint>
  </transmission>
  <gazebo reference="rh_lfproximal">
    <selfCollide>true</selfCollide>
  </gazebo>
  <link name="rh_lfmiddle">
    <inertial>
      <origin rpy="0 0 0" xyz="0 0 0.0125"/>
      <mass value="0.017"/>
      <inertia ixx="0.0000026" ixy="0.0" ixz="0.0" iyy="0.0000027" iyz="0.0" izz="0.00000087"/>
    </inertial>
    <visual>
      <origin rpy="0 0 0" xyz="0 0 0"/>
      <geometry name="rh_lfmiddle_visual">
        <mesh filename="shadow_hand/meshes/f_middle/f_middle_E3M5_from_dae.obj" scale="0.001 0.001 0.001"/>
      </geometry>
      <material name="Grey"/>
    </visual>
    <collision>
      <origin rpy="0 0 0" xyz="0 0 0.0125"/>
      <geometry name="rh_lfmiddle_collision_geom">
        <cylinder length="0.025" radius="0.007"/>
      </geometry>
    </collision>
    <collision>
      <origin rpy="0 0 0" xyz="0 0 0.0"/>
      <geometry>
        <sphere radius="0.007"/>
      </geometry>
    </collision>
    <collision>
      <origin rpy="0 0 0" xyz="0 0 0.025"/>
      <geometry>
        <sphere radius="0.007"/>
      </geometry>
    </collision>
  </link>
  <joint name="rh_LFJ2" type="revolute">
    <parent link="rh_lfproximal"/>
    <child link="rh_lfmiddle"/>
    <origin rpy="0 0 0" xyz="0 0 0.045"/>
    <axis xyz="1 0 0"/>
    <limit effort="2" lower="0" upper="1.5707963267948966" velocity="2.0"/>
    <dynamics damping="0.1"/>
  </joint>
  <gazebo reference="rh_LFJ2">
    <provideFeedback>1</provideFeedback>
    <implicitSpringDamper>1</implicitSpringDamper>
  </gazebo>
  <transmission name="rh_lfmiddle_transmission">
    <type>sr_mechanism_model/SimpleTransmission</type>
    <actuator name="rh_LFJ2">
      <mechanicalReduction>1</mechanicalReduction>
    </actuator>
    <joint name="rh_LFJ2">
      <hardwareInterface>EffortJointInterface</hardwareInterface>
      <hardwareInterface>PositionJointInterface</hardwareInterface>
    </joint>
  </transmission>
  <gazebo reference="rh_lfmiddle">
    <selfCollide>true</selfCollide>
  </gazebo>
  <link name="rh_lfdistal">
    <inertial>
      <mass value="0.012"/>
      <origin xyz="0 0 0.012"/>
      <inertia ixx="0.00000094" ixy="0.0" ixz="0.0" iyy="0.0000011" iyz="0.0" izz="0.00000053"/>
    </inertial>
    <visual>
      <origin rpy="0 0 0" xyz="0 0 0"/>
      <geometry name="rh_lfdistal_visual">
        <mesh filename="shadow_hand/meshes/f_distal/bt_sp/f_distal_bt_sp_from_dae.obj" scale="0.001 0.001 0.001"/>
      </geometry>
    </visual>
    <collision>
      <origin rpy="0 0 0" xyz="0 0 0"/>
      <geometry name="rh_lfdistal_collision_geom">
        <mesh filename="shadow_hand/meshes/f_distal/bt_sp/f_distal_bt_sp_from_dae.obj" scale="0.001 0.001 0.001"/>
      </geometry>
    </collision>
  </link>
  <joint name="rh_LFJ1" type="revolute">
    <parent link="rh_lfmiddle"/>
    <child link="rh_lfdistal"/>
    <origin rpy="0 0 0" xyz="0 0 0.025"/>
    <axis xyz="1 0 0"/>
    <!-- standard distal joint -->
    <limit effort="2" lower="0" upper="1.5707963267948966" velocity="2.0"/>
    <dynamics damping="0.1"/>
  </joint>
  <gazebo reference="rh_LFJ1">
    <provideFeedback>1</provideFeedback>
    <implicitSpringDamper>1</implicitSpringDamper>
  </gazebo>
  <link name="rh_lftip">
    <inertial>
      <mass value="0.001"/>
      <inertia ixx="0.0" ixy="0.0" ixz="0.0" iyy="0.0" iyz="0.0" izz="0.0"/>
    </inertial>
  </link>
  <joint name="rh_LFtip" type="fixed">
    <parent link="rh_lfdistal"/>
    <child link="rh_lftip"/>
    <origin rpy="0 0 0" xyz="0 0 0.026"/>
  </joint>
  <gazebo reference="rh_lfdistal">
    <sensor name="rh_lfdistal_contact" type="contact">
      <always_on>1</always_on>
      <update_rate>1000.0</update_rate>
      <contact>
        <collision>rh_lfdistal_collision</collision>
        <topic>rh_lfdistal_collision</topic>
      </contact>
      <plugin filename="libgazebo_ros_bumper.so" name="rh_lfdistal_gazebo_ros_bumper_controller">
        <alwaysOn>true</alwaysOn>
        <frameName>rh_lfdistal</frameName>
        <updateRate>100.0</updateRate>
        <bumperTopicName>contacts/rh_lf/distal</bumperTopicName>
      </plugin>
    </sensor>
    <mu1 value="500.0"/>
    <mu2 value="500.0"/>
    <kp value="10000000.0"/>
    <kd value="1.0"/>
    <selfCollide>true</selfCollide>
  </gazebo>
  <transmission name="rh_lfdistal_transmission">
    <type>sr_mechanism_model/SimpleTransmission</type>
    <actuator name="rh_LFJ1">
      <mechanicalReduction>1</mechanicalReduction>
    </actuator>
    <joint name="rh_LFJ1">
      <hardwareInterface>EffortJointInterface</hardwareInterface>
      <hardwareInterface>PositionJointInterface</hardwareInterface>
    </joint>
  </transmission>
  <!--added by LiWen on Apr 17 2025 -->
  <link name="rh_thbase">
    <inertial>
      <mass value="0.010"/>
      <origin rpy="0 0 0" xyz="0 0 0"/>
      <inertia ixx="0.00000016" ixy="0.0" ixz="0.0" iyy="0.00000016" iyz="0.0" izz="0.00000016"/>
    </inertial>
    <visual>
      <origin rpy="0 0 0" xyz="0 0 0"/>
      <geometry name="rh_thbase_visual">
        <box size="0.001 0.001 0.001"/>
      </geometry>
      <material name="shadow_thbase_material">
        <color rgba="0.5 0.5 0.5 1.0"/>
      </material>
    </visual>
    <collision>
      <origin rpy="0 0 0" xyz="0 0 0"/>
      <geometry name="rh_thbase_collision_geom">
        <sphere radius="0.011"/>
      </geometry>
    </collision>
  </link>
  <joint name="rh_THJ5" type="revolute">
    <parent link="rh_palm"/>
    <child link="rh_thbase"/>
    <origin rpy="-0.7853981633974483 0 -1.5707963267948966" xyz="0.034 -0.00858 0.029"/>
    <axis xyz="0 0 -1"/>
    <limit effort="5.0" lower="-1.0471975511965976" upper="1.0471975511965976" velocity="4.0"/>
    <dynamics damping="0.2"/>
  </joint>
  <gazebo reference="rh_THJ5">
    <provideFeedback>1</provideFeedback>
    <implicitSpringDamper>1</implicitSpringDamper>
  </gazebo>
  <transmission name="rh_thbase_transmission">
    <type>sr_mechanism_model/SimpleTransmission</type>
    <actuator name="rh_THJ5">
      <mechanicalReduction>1</mechanicalReduction>
    </actuator>
    <joint name="rh_THJ5">
      <hardwareInterface>EffortJointInterface</hardwareInterface>
      <hardwareInterface>PositionJointInterface</hardwareInterface>
    </joint>
  </transmission>
  <gazebo reference="rh_thbase">
    <!-- base is inside the proximal and not exposed, so bumper is not needed -->
    <selfCollide>false</selfCollide>
  </gazebo>
  <link name="rh_thproximal">
    <inertial>
      <mass value="0.040"/>
      <origin rpy="0 0 0" xyz="0 0 0.019"/>
      <inertia ixx="0.0000136" ixy="0.0" ixz="0.0" iyy="0.0000136" iyz="0.0" izz="0.00000313"/>
    </inertial>
    <visual>
      <origin rpy="0 0 1.5707963267948966" xyz="0 0 0"/>
      <geometry name="rh_thproximal_visual">
        <mesh filename="shadow_hand/meshes/th_proximal/th_proximal_E3M5_from_dae.obj" scale="0.001 0.001 0.001"/>
      </geometry>
      <material name="shadow_thproximal_material">
        <color rgba="0.2 0.2 0.2 1.0"/>
      </material>
    </visual>
    <collision>
      <origin rpy="0 0 0" xyz="0 0 0.020"/>
      <geometry name="rh_thproximal_collision_geom">
        <cylinder length="0.018" radius="0.012"/>
      </geometry>
    </collision>
  </link>
  <joint name="rh_THJ4" type="revolute">
    <parent link="rh_thbase"/>
    <child link="rh_thproximal"/>
    <origin rpy="0 0 0" xyz="0 0 0"/>
    <axis xyz="0 1 0"/>
    <limit effort="3" lower="0.0" upper="1.2217304763960306" velocity="4.0"/>
    <dynamics damping="0.2"/>
  </joint>
  <gazebo reference="rh_THJ4">
    <provideFeedback>1</provideFeedback>
    <implicitSpringDamper>1</implicitSpringDamper>
  </gazebo>
  <transmission name="rh_thproximal_transmission">
    <type>sr_mechanism_model/SimpleTransmission</type>
    <actuator name="rh_THJ4">
      <mechanicalReduction>1</mechanicalReduction>
    </actuator>
    <joint name="rh_THJ4">
      <hardwareInterface>EffortJointInterface</hardwareInterface>
      <hardwareInterface>PositionJointInterface</hardwareInterface>
    </joint>
  </transmission>
  <gazebo reference="rh_thproximal">
    <selfCollide>false</selfCollide>
  </gazebo>
  <link name="rh_thhub">
    <inertial>
      <mass value="0.005"/>
      <origin rpy="0 0 0" xyz="0 0 0"/>
      <inertia ixx="0.000001" ixy="0.0" ixz="0.0" iyy="0.000001" iyz="0.0" izz="0.0000003"/>
    </inertial>
    <visual>
      <origin rpy="0 0 0" xyz="0 0 0"/>
      <geometry name="rh_thhub_visual">
        <box size="0.001 0.001 0.001"/>
      </geometry>
      <material name="shadow_thhub_material">
        <color rgba="0.7 0.7 0.7 1.0"/>
      </material>
    </visual>
    <collision>
      <origin rpy="0 0 0" xyz="0 0 0"/>
      <geometry name="rh_thhub_collision_geom">
        <sphere radius="0.010"/>
      </geometry>
    </collision>
  </link>
  <joint name="rh_THJ3" type="revolute">
    <parent link="rh_thproximal"/>
    <child link="rh_thhub"/>
    <origin rpy="0 0 0" xyz="0 0 0.038"/>
    <axis xyz="0 1 0"/>
    <limit effort="2.0" lower="-0.20943951023931953" upper="0.20943951023931953" velocity="4.0"/>
    <dynamics damping="0.2"/>
  </joint>
  <gazebo reference="rh_THJ3">
    <provideFeedback>1</provideFeedback>
    <implicitSpringDamper>1</implicitSpringDamper>
  </gazebo>
  <transmission name="rh_thhub_transmission">
    <type>sr_mechanism_model/SimpleTransmission</type>
    <actuator name="rh_THJ3">
      <mechanicalReduction>1</mechanicalReduction>
    </actuator>
    <joint name="rh_THJ3">
      <hardwareInterface>EffortJointInterface</hardwareInterface>
      <hardwareInterface>PositionJointInterface</hardwareInterface>
    </joint>
  </transmission>
  <gazebo reference="rh_thhub">
    <!-- hub is inside the proximal and not exposed, so bumper is not needed -->
    <selfCollide>false</selfCollide>
  </gazebo>
  <link name="rh_thmiddle">
    <inertial>
      <mass value="0.020"/>
      <origin rpy="0 0 0" xyz="0 0 0.016"/>
      <inertia ixx="0.0000051" ixy="0.0" ixz="0.0" iyy="0.0000051" iyz="0.0" izz="0.00000121"/>
    </inertial>
    <visual>
      <origin rpy="0 0 1.5707963267948966" xyz="0 0 0"/>
      <geometry name="rh_thmiddle_visual">
        <mesh filename="shadow_hand/meshes/th_middle/th_middle_E3M5_from_dae.obj" scale="0.001 0.001 0.001"/>
      </geometry>
      <material name="shadow_thmiddle_material">
        <color rgba="0.2 0.2 0.2 1.0"/>
      </material>
    </visual>
    <collision>
      <origin rpy="0 0 0" xyz="0 0 0.012"/>
      <geometry name="rh_thmiddle_collision_geom">
        <cylinder length="0.018" radius="0.011"/>
      </geometry>
    </collision>
    <collision>
      <origin rpy="0 0 0" xyz="0 0 0.019"/>
      <geometry>
        <sphere radius="0.011"/>
      </geometry>
    </collision>
    <collision>
      <origin rpy="0 1.5708 0" xyz="0 0 0.032"/>
      <geometry>
        <cylinder length="0.014" radius="0.010"/>
      </geometry>
    </collision>
  </link>
  <joint name="rh_THJ2" type="revolute">
    <parent link="rh_thhub"/>
    <child link="rh_thmiddle"/>
    <origin rpy="0 0 0" xyz="0 0 0"/>
    <axis xyz="1 0 0"/>
    <limit effort="2.0" lower="-0.6981317007977318" upper="0.6981317007977318" velocity="2.0"/>
    <dynamics damping="0.1"/>
  </joint>
  <gazebo reference="rh_THJ2">
    <provideFeedback>1</provideFeedback>
    <implicitSpringDamper>1</implicitSpringDamper>
  </gazebo>
  <transmission name="rh_thmiddle_transmission">
    <type>sr_mechanism_model/SimpleTransmission</type>
    <actuator name="rh_THJ2">
      <mechanicalReduction>1</mechanicalReduction>
    </actuator>
    <joint name="rh_THJ2">
      <hardwareInterface>EffortJointInterface</hardwareInterface>
      <hardwareInterface>PositionJointInterface</hardwareInterface>
    </joint>
  </transmission>
  <gazebo reference="rh_thmiddle">
  </gazebo>
  <!-- common -->
  <link name="rh_thdistal">
    <inertial>
      <mass value="0.016"/>
      <origin rpy="0 0 0" xyz="0 0 0.01375"/>
      <inertia ixx="0.0000021" ixy="0.0" ixz="0.0" iyy="0.0000022" iyz="0.0" izz="0.000001"/>
    </inertial>
    <visual>
      <origin rpy="0 0 0" xyz="0 0 0"/>
      <geometry name="rh_thdistal_visual">
        <mesh filename="shadow_hand/meshes/th_distal/bt_sp/th_distal_bt_sp_from_dae.obj" scale="0.001 0.001 0.001"/>
      </geometry>
      <material name="shadow_thmiddle_material">
        <color rgba="0.2 0.2 0.2 1.0"/>
      </material>
    </visual>
    <collision>
      <origin rpy="0 0 0" xyz="0 0 0"/>
      <geometry name="rh_thmiddle_collision_geom">
        <mesh filename="shadow_hand/meshes/th_distal/bt_sp/th_distal_bt_sp_from_dae.obj" scale="0.001 0.001 0.001"/>
      </geometry>
    </collision>
  </link>
  <joint name="rh_THJ1" type="revolute">
    <parent link="rh_thmiddle"/>
    <child link="rh_thdistal"/>
    <origin rpy="0 0 0" xyz="0 0 0.032"/>
    <axis xyz="1 0 0"/>
    <limit effort="1.0" lower="-0.2617993877991494" upper="1.5707963267948966" velocity="4.0"/>
    <dynamics damping="0.2"/>
  </joint>
  <gazebo reference="rh_THJ1">
    <provideFeedback>1</provideFeedback>
    <implicitSpringDamper>1</implicitSpringDamper>
  </gazebo>
  <link name="rh_thtip">
    <inertial>
      <mass value="0.001"/>
      <inertia ixx="0.0" ixy="0.0" ixz="0.0" iyy="0.0" iyz="0.0" izz="0.0"/>
    </inertial>
  </link>
  <joint name="rh_thtip" type="fixed">
    <parent link="rh_thdistal"/>
    <child link="rh_thtip"/>
    <origin rpy="0 0 0" xyz="0 0 0.0275"/>
  </joint>
  <gazebo reference="rh_thdistal">
    <sensor name="rh_thdistal_contact" type="contact">
      <always_on>1</always_on>
      <update_rate>1000.0</update_rate>
      <contact>
        <collision>rh_thdistal_collision</collision>
        <topic>rh_thdistal_collision</topic>
      </contact>
      <plugin filename="libgazebo_ros_bumper.so" name="rh_thdistal_gazebo_ros_bumper_controller">
        <alwaysOn>true</alwaysOn>
        <frameName>rh_thdistal</frameName>
        <updateRate>100.0</updateRate>
        <bumperTopicName>contacts/rh_th/distal</bumperTopicName>
      </plugin>
    </sensor>
    <mu1 value="500.0"/>
    <mu2 value="500.0"/>
    <kp value="10000000.0"/>
    <kd value="1.0"/>
    <selfCollide>true</selfCollide>
  </gazebo>
  <transmission name="rh_thdistal_transmission">
    <type>sr_mechanism_model/SimpleTransmission</type>
    <actuator name="rh_THJ1">
      <mechanicalReduction>1</mechanicalReduction>
    </actuator>
    <joint name="rh_THJ1">
      <hardwareInterface>EffortJointInterface</hardwareInterface>
      <hardwareInterface>PositionJointInterface</hardwareInterface>
    </joint>
  </transmission>
  <!-- Gofa 1 Workspace (this should look towards the working space, centered on Gofa 1) -->
  <link name="gofa1_workspace"/>
  <joint name="gofa1_base_link" type="fixed">
    <parent link="gofa1_workspace"/>
    <child link="gofa1_base_link"/>
    <origin rpy="0.0 -0.523599 0.0" xyz="0.0 0.0 0.095"/>
  </joint>
  <!-- Gofa 2 Workspace (this should look towards the working space, centered on Gofa 2) -->
  <link name="gofa2_workspace"/>
  <joint name="gofa2_workspace" type="fixed">
    <parent link="gofa2_workspace"/>
    <child link="gofa2_base_link"/>
    <origin rpy="0.0 -0.523599 3.14" xyz="0.0 0.0 0.095"/>
  </joint>
  <!-- Distance between arms & rotation -->
  <joint name="gofa_dist" type="fixed">
    <parent link="gofa1_workspace"/>
    <child link="gofa2_workspace"/>
    <origin rpy="0.0 0.0 0.0" xyz="0.5687 0.0 0.0"/>
  </joint>
  <!-- Distance to Avatar middle assembly -->
  <link name="gofas_midpoint"/>
  <joint name="gofas_midpoint" type="fixed">
    <parent link="gofa1_workspace"/>
    <child link="gofas_midpoint"/>
    <origin rpy="0.0 0.0 0.0" xyz="0.3175 0.0 0.0"/>
  </joint>
  <material name="xarm6_Black">
    <color rgba="0.0 0.0 0.0 1.0"/>
  </material>
  <material name="xarm6_Red">
    <color rgba="0.8 0.0 0.0 1.0"/>
  </material>
  <material name="xarm6_White">
    <color rgba="1.0 1.0 1.0 1.0"/>
  </material>
  <material name="xarm6_Silver">
    <color rgba="0.753 0.753 0.753 1.0"/>
  </material>
  <link name="xarm6_link_base">
    <inertial>
      <origin rpy="0 0 0" xyz="0.0 0.0 0.09103"/>
      <mass value="2.7"/>
      <inertia ixx="0.00494875" ixy="-3.5E-06" ixz="1.25E-05" iyy="0.00494174" iyz="1.67E-06" izz="0.002219"/>
    </inertial>
    <visual>
      <geometry>
        <mesh filename="xarm6/meshes/visual/link_base_from_stl.obj"/>
      </geometry>
      <origin rpy="0 0 0" xyz="0 0 0"/>
      <material name="xarm6_White"/>
    </visual>
    <collision>
      <geometry>
        <mesh filename="xarm6/meshes/visual/link_base_from_stl.obj"/>
      </geometry>
      <origin rpy="0 0 0" xyz="0 0 0"/>
    </collision>
  </link>
  <link name="xarm6_link1">
    <inertial>
      <origin rpy="0 0 0" xyz="0.00022 0.02951 -0.0124"/>
      <mass value="2.3814"/>
      <inertia ixx="0.0058562" ixy="-1.79e-05" ixz="3.55e-06" iyy="0.0050316" iyz="-0.000888336" izz="0.003536652"/>
    </inertial>
    <visual>
      <geometry>
        <mesh filename="xarm6/meshes/visual/link1_from_stl.obj"/>
      </geometry>
      <origin rpy="0 0 0" xyz="0 0 0"/>
      <material name="xarm6_White"/>
    </visual>
    <collision>
      <geometry>
        <mesh filename="xarm6/meshes/visual/link1_from_stl.obj"/>
      </geometry>
      <origin rpy="0 0 0" xyz="0 0 0"/>
    </collision>
  </link>
  <joint name="xarm6_joint1" type="revolute">
    <parent link="xarm6_link_base"/>
    <child link="xarm6_link1"/>
    <origin rpy="0 0 0" xyz="0 0 0.267"/>
    <axis xyz="0 0 1"/>
    <limit effort="50.0" lower="-6.283185307179586" upper="6.283185307179586" velocity="3.14"/>
    <dynamics damping="1.0" friction="1.0"/>
  </joint>
  <link name="xarm6_link2">
    <inertial>
      <origin rpy="0 0 0" xyz="0.03881 -0.22783 0.03496"/>
      <mass value="2.2675"/>
      <inertia ixx="0.028315776" ixy="0.005" ixz="0.00066546" iyy="0.0058" iyz="-0.0045741" izz="0.0273447"/>
    </inertial>
    <visual>
      <geometry>
        <mesh filename="xarm6/meshes/visual/link2_from_stl.obj"/>
      </geometry>
      <origin rpy="0 0 0" xyz="0 0 0"/>
      <material name="xarm6_White"/>
    </visual>
    <collision>
      <geometry>
        <mesh filename="xarm6/meshes/visual/link2_from_stl.obj"/>
      </geometry>
      <origin rpy="0 0 0" xyz="0 0 0"/>
    </collision>
  </link>
  <joint name="xarm6_joint2" type="revolute">
    <parent link="xarm6_link1"/>
    <child link="xarm6_link2"/>
    <origin rpy="-1.5708 0 0" xyz="0 0 0"/>
    <axis xyz="0 0 1"/>
    <limit effort="50.0" lower="-2.059" upper="2.0944" velocity="3.14"/>
    <dynamics damping="1.0" friction="1.0"/>
  </joint>
  <link name="xarm6_link3">
    <inertial>
      <origin rpy="0 0 0" xyz="0.07041 0.11631 0.0107"/>
      <mass value="1.875"/>
      <inertia ixx="0.0063483" ixy="-0.0015397" ixz="0.00096858" iyy="0.00379758" iyz="0.00186567" izz="0.00595768"/>
    </inertial>
    <visual>
      <geometry>
        <mesh filename="xarm6/meshes/visual/link3_from_stl.obj"/>
      </geometry>
      <origin rpy="0 0 0" xyz="0 0 0"/>
      <material name="xarm6_White"/>
    </visual>
    <collision>
      <geometry>
        <mesh filename="xarm6/meshes/visual/link3_from_stl.obj"/>
      </geometry>
      <origin rpy="0 0 0" xyz="0 0 0"/>
    </collision>
  </link>
  <joint name="xarm6_joint3" type="revolute">
    <parent link="xarm6_link2"/>
    <child link="xarm6_link3"/>
    <origin rpy="0 0 0" xyz="0.0535 -0.2845 0"/>
    <axis xyz="0 0 1"/>
    <limit effort="32.0" lower="-3.927" upper="0.19198" velocity="3.14"/>
    <dynamics damping="1.0" friction="1.0"/>
  </joint>
  <link name="xarm6_link4">
    <inertial>
      <origin rpy="0 0 0" xyz="-0.00018 0.01798 -0.02291"/>
      <mass value="1.3192"/>
      <inertia ixx="0.004896" ixy="-6.925e-06" ixz="-1.418e-05" iyy="0.00445694" iyz="-0.00023186" izz="0.00134332"/>
    </inertial>
    <visual>
      <geometry>
        <mesh filename="xarm6/meshes/visual/link4_from_stl.obj"/>
      </geometry>
      <origin rpy="0 0 0" xyz="0 0 0"/>
      <material name="xarm6_White"/>
    </visual>
    <collision>
      <geometry>
        <mesh filename="xarm6/meshes/visual/link4_from_stl.obj"/>
      </geometry>
      <origin rpy="0 0 0" xyz="0 0 0"/>
    </collision>
  </link>
  <joint name="xarm6_joint4" type="revolute">
    <parent link="xarm6_link3"/>
    <child link="xarm6_link4"/>
    <origin rpy="-1.5708 0 0" xyz="0.0775 0.3425 0"/>
    <axis xyz="0 0 1"/>
    <limit effort="32.0" lower="-6.283185307179586" upper="6.283185307179586" velocity="3.14"/>
    <dynamics damping="1.0" friction="1.0"/>
  </joint>
  <link name="xarm6_link5">
    <inertial>
      <origin rpy="0 0 0" xyz="0.0651 0.03096 0.00315"/>
      <mass value="1.33854"/>
      <inertia ixx="0.00146378" ixy="-0.000450624" ixz="0.000284306" iyy="0.00184192" iyz="0.000130866" izz="0.002333524"/>
    </inertial>
    <visual>
      <geometry>
        <mesh filename="xarm6/meshes/visual/link5_from_stl.obj"/>
      </geometry>
      <origin rpy="0 0 0" xyz="0 0 0"/>
      <material name="xarm6_White"/>
    </visual>
    <collision>
      <geometry>
        <mesh filename="xarm6/meshes/visual/link5_from_stl.obj"/>
      </geometry>
      <origin rpy="0 0 0" xyz="0 0 0"/>
    </collision>
  </link>
  <joint name="xarm6_joint5" type="revolute">
    <parent link="xarm6_link4"/>
    <child link="xarm6_link5"/>
    <origin rpy="1.5708 0 0" xyz="0 0 0"/>
    <axis xyz="0 0 1"/>
    <limit effort="32.0" lower="-1.69297" upper="3.141592653589793" velocity="3.14"/>
    <dynamics damping="1.0" friction="1.0"/>
  </joint>
  <link name="xarm6_link6">
    <inertial>
      <origin rpy="0 0 0" xyz="0 -0.00677 -0.01098"/>
      <mass value="0.17"/>
      <inertia ixx="9.3e-05" ixy="-0.0" ixz="-0.0" iyy="5.87e-05" iyz="-3.6e-06" izz="0.000132"/>
    </inertial>
    <visual>
      <geometry>
        <mesh filename="xarm6/meshes/visual/link6_from_stl.obj"/>
      </geometry>
      <origin rpy="0 0 0" xyz="0 0 0"/>
      <material name="xarm6_Silver"/>
    </visual>
    <collision>
      <geometry>
        <mesh filename="xarm6/meshes/end_tool_from_stl.obj"/>
      </geometry>
      <origin rpy="0 0 0" xyz="0 0 0"/>
    </collision>
  </link>
  <joint name="xarm6_joint6" type="revolute">
    <parent link="xarm6_link5"/>
    <child link="xarm6_link6"/>
    <origin rpy="-1.5708 0 0" xyz="0.076 0.097 0"/>
    <axis xyz="0 0 1"/>
    <limit effort="20.0" lower="-6.283185307179586" upper="6.283185307179586" velocity="3.14"/>
    <dynamics damping="1.0" friction="1.0"/>
  </joint>
  <transmission name="xarm6_tran1">
    <type>transmission_interface/SimpleTransmission</type>
    <joint name="xarm6_joint1">
      <hardwareInterface>hardware_interface/EffortJointInterface</hardwareInterface>
    </joint>
    <actuator name="xarm6_motor1">
      <hardwareInterface>hardware_interface/EffortJointInterface</hardwareInterface>
      <mechanicalReduction>1</mechanicalReduction>
    </actuator>
  </transmission>
  <transmission name="xarm6_tran2">
    <type>transmission_interface/SimpleTransmission</type>
    <joint name="xarm6_joint2">
      <hardwareInterface>hardware_interface/EffortJointInterface</hardwareInterface>
    </joint>
    <actuator name="xarm6_motor2">
      <hardwareInterface>hardware_interface/EffortJointInterface</hardwareInterface>
      <mechanicalReduction>1</mechanicalReduction>
    </actuator>
  </transmission>
  <transmission name="xarm6_tran3">
    <type>transmission_interface/SimpleTransmission</type>
    <joint name="xarm6_joint3">
      <hardwareInterface>hardware_interface/EffortJointInterface</hardwareInterface>
    </joint>
    <actuator name="xarm6_motor3">
      <hardwareInterface>hardware_interface/EffortJointInterface</hardwareInterface>
      <mechanicalReduction>1</mechanicalReduction>
    </actuator>
  </transmission>
  <transmission name="xarm6_tran4">
    <type>transmission_interface/SimpleTransmission</type>
    <joint name="xarm6_joint4">
      <hardwareInterface>hardware_interface/EffortJointInterface</hardwareInterface>
    </joint>
    <actuator name="xarm6_motor4">
      <hardwareInterface>hardware_interface/EffortJointInterface</hardwareInterface>
      <mechanicalReduction>1</mechanicalReduction>
    </actuator>
  </transmission>
  <transmission name="xarm6_tran5">
    <type>transmission_interface/SimpleTransmission</type>
    <joint name="xarm6_joint5">
      <hardwareInterface>hardware_interface/EffortJointInterface</hardwareInterface>
    </joint>
    <actuator name="xarm6_motor5">
      <hardwareInterface>hardware_interface/EffortJointInterface</hardwareInterface>
      <mechanicalReduction>1</mechanicalReduction>
    </actuator>
  </transmission>
  <transmission name="xarm6_tran6">
    <type>transmission_interface/SimpleTransmission</type>
    <joint name="xarm6_joint6">
      <hardwareInterface>hardware_interface/EffortJointInterface</hardwareInterface>
    </joint>
    <actuator name="xarm6_motor6">
      <hardwareInterface>hardware_interface/EffortJointInterface</hardwareInterface>
      <mechanicalReduction>1</mechanicalReduction>
    </actuator>
  </transmission>
  <!-- <link name="${prefix}link_eef" />
    <joint name="${prefix}joint_eef" type="fixed">
      <origin xyz="0 0 0" rpy="0 0 0" />
      <parent link="${prefix}link6" />
      <child link="${prefix}link_eef" />
    </joint> -->
  <!-- Neck Cam Assm Link - bbox -->
  <link name="neck_cam_assm_mount">
    <visual>
      <origin rpy="0 0 0" xyz="0 0 -0.065"/>
      <geometry>
        <box size="0.055 0.12 0.15"/>
      </geometry>
    </visual>
    <collision>
      <origin rpy="0 0 0" xyz="0 0 -0.065"/>
      <geometry>
        <box size="0.055 0.12 0.155"/>
      </geometry>
    </collision>
  </link>
  <joint name="neck_cam_assm_mount" type="fixed">
    <parent link="xarm6_link6"/>
    <child link="neck_cam_assm_mount"/>
    <origin rpy="1.57 -1.57 0.0" xyz="0.0 -0.1067 0.0225"/>
    <!-- -0.1067 physically measured with calipers from xarm ee center to fish-eye lens -->
  </joint>
  <!-- Neck Cam - consistent with hmd_reconciled means z-forward, x-down, y-left-->
  <link name="neck_cam_assm"/>
  <joint name="neck_cam_assm" type="fixed">
    <parent link="neck_cam_assm_mount"/>
    <child link="neck_cam_assm"/>
    <origin rpy="0 0 3.14" xyz="0.0 0.0 0.0"/>
  </joint>
  <link name="neck_cam_left_eye"/>
  <joint name="neck_cam_left_eye" type="fixed">
    <parent link="neck_cam_assm"/>
    <child link="neck_cam_left_eye"/>
    <origin rpy="0 0 0" xyz="0.0 0.034 0.0"/>
  </joint>
  <link name="neck_cam_right_eye"/>
  <joint name="neck_cam_right_eye" type="fixed">
    <parent link="neck_cam_assm"/>
    <child link="neck_cam_right_eye"/>
    <origin rpy="0 0 0" xyz="0.0 -0.034 0.0"/>
  </joint>
  <!-- Neck workspace -->
  <link name="xarm6_workspace"/>
  <joint name="xarm6_workspace" type="fixed">
    <parent link="xarm6_workspace"/>
    <child link="xarm6_link_base"/>
    <origin rpy="0.0 0.0 1.517" xyz="0.0 0.0 0.0"/>
  </joint>
  <!-- Neck w.r.t. Gofa1  (measured as 12") -->
  <joint name="neck_dist" type="fixed">
    <parent link="gofa1_workspace"/>
    <child link="xarm6_workspace"/>
    <origin rpy="0.0 0.0 0.0" xyz="0.264 0.3683 0.0"/>
  </joint>
  <!-- Center of Avatar task workspace -->
  <link name="avatar_task_ws"/>
  <joint name="avatar_task_ws" type="fixed">
    <parent link="xarm6_workspace"/>
    <child link="avatar_task_ws"/>
    <origin rpy="0.0 0.0 0.0" xyz="0.0 0.6 0.0"/>
  </joint>
  <ros2_control name="FakeSystem" type="system">
    <hardware>
      <!-- By default, set up controllers for simulation. This won't work on real hardware -->
      <plugin>mock_components/GenericSystem</plugin>
    </hardware>
    <joint name="gofa1_joint_1">
      <command_interface name="position"/>
      <state_interface name="position">
        <param name="initial_value">0</param>
      </state_interface>
      <state_interface name="velocity"/>
    </joint>
    <joint name="gofa1_joint_2">
      <command_interface name="position"/>
      <state_interface name="position">
        <param name="initial_value">0</param>
      </state_interface>
      <state_interface name="velocity"/>
    </joint>
    <joint name="gofa1_joint_3">
      <command_interface name="position"/>
      <state_interface name="position">
        <param name="initial_value">0</param>
      </state_interface>
      <state_interface name="velocity"/>
    </joint>
    <joint name="gofa1_joint_4">
      <command_interface name="position"/>
      <state_interface name="position">
        <param name="initial_value">0</param>
      </state_interface>
      <state_interface name="velocity"/>
    </joint>
    <joint name="gofa1_joint_5">
      <command_interface name="position"/>
      <state_interface name="position">
        <param name="initial_value">0</param>
      </state_interface>
      <state_interface name="velocity"/>
    </joint>
    <joint name="gofa1_joint_6">
      <command_interface name="position"/>
      <state_interface name="position">
        <param name="initial_value">0</param>
      </state_interface>
      <state_interface name="velocity"/>
    </joint>
    <joint name="lh_WRJ2">
      <command_interface name="position"/>
      <state_interface name="position">
        <param name="initial_value">0</param>
      </state_interface>
      <state_interface name="velocity"/>
    </joint>
    <joint name="lh_WRJ1">
      <command_interface name="position"/>
      <state_interface name="position">
        <param name="initial_value">0</param>
      </state_interface>
      <state_interface name="velocity"/>
    </joint>
    <joint name="gofa2_joint_1">
      <command_interface name="position"/>
      <state_interface name="position">
        <param name="initial_value">0</param>
      </state_interface>
      <state_interface name="velocity"/>
    </joint>
    <joint name="gofa2_joint_2">
      <command_interface name="position"/>
      <state_interface name="position">
        <param name="initial_value">0</param>
      </state_interface>
      <state_interface name="velocity"/>
    </joint>
    <joint name="gofa2_joint_3">
      <command_interface name="position"/>
      <state_interface name="position">
        <param name="initial_value">0</param>
      </state_interface>
      <state_interface name="velocity"/>
    </joint>
    <joint name="gofa2_joint_4">
      <command_interface name="position"/>
      <state_interface name="position">
        <param name="initial_value">0</param>
      </state_interface>
      <state_interface name="velocity"/>
    </joint>
    <joint name="gofa2_joint_5">
      <command_interface name="position"/>
      <state_interface name="position">
        <param name="initial_value">0</param>
      </state_interface>
      <state_interface name="velocity"/>
    </joint>
    <joint name="gofa2_joint_6">
      <command_interface name="position"/>
      <state_interface name="position">
        <param name="initial_value">0</param>
      </state_interface>
      <state_interface name="velocity"/>
    </joint>
    <joint name="rh_WRJ2">
      <command_interface name="position"/>
      <state_interface name="position">
        <param name="initial_value">0</param>
      </state_interface>
      <state_interface name="velocity"/>
    </joint>
    <joint name="rh_WRJ1">
      <command_interface name="position"/>
      <state_interface name="position">
        <param name="initial_value">0</param>
      </state_interface>
      <state_interface name="velocity"/>
    </joint>
    <joint name="xarm6_joint1">
      <command_interface name="position"/>
      <state_interface name="position">
        <param name="initial_value">0</param>
      </state_interface>
      <state_interface name="velocity"/>
    </joint>
    <joint name="xarm6_joint2">
      <command_interface name="position"/>
      <state_interface name="position">
        <param name="initial_value">0</param>
      </state_interface>
      <state_interface name="velocity"/>
    </joint>
    <joint name="xarm6_joint3">
      <command_interface name="position"/>
      <state_interface name="position">
        <param name="initial_value">0</param>
      </state_interface>
      <state_interface name="velocity"/>
    </joint>
    <joint name="xarm6_joint4">
      <command_interface name="position"/>
      <state_interface name="position">
        <param name="initial_value">0</param>
      </state_interface>
      <state_interface name="velocity"/>
    </joint>
    <joint name="xarm6_joint5">
      <command_interface name="position"/>
      <state_interface name="position">
        <param name="initial_value">0</param>
      </state_interface>
      <state_interface name="velocity"/>
    </joint>
    <joint name="xarm6_joint6">
      <command_interface name="position"/>
      <state_interface name="position">
        <param name="initial_value">0</param>
      </state_interface>
      <state_interface name="velocity"/>
    </joint>
  </ros2_control>
</robot>
